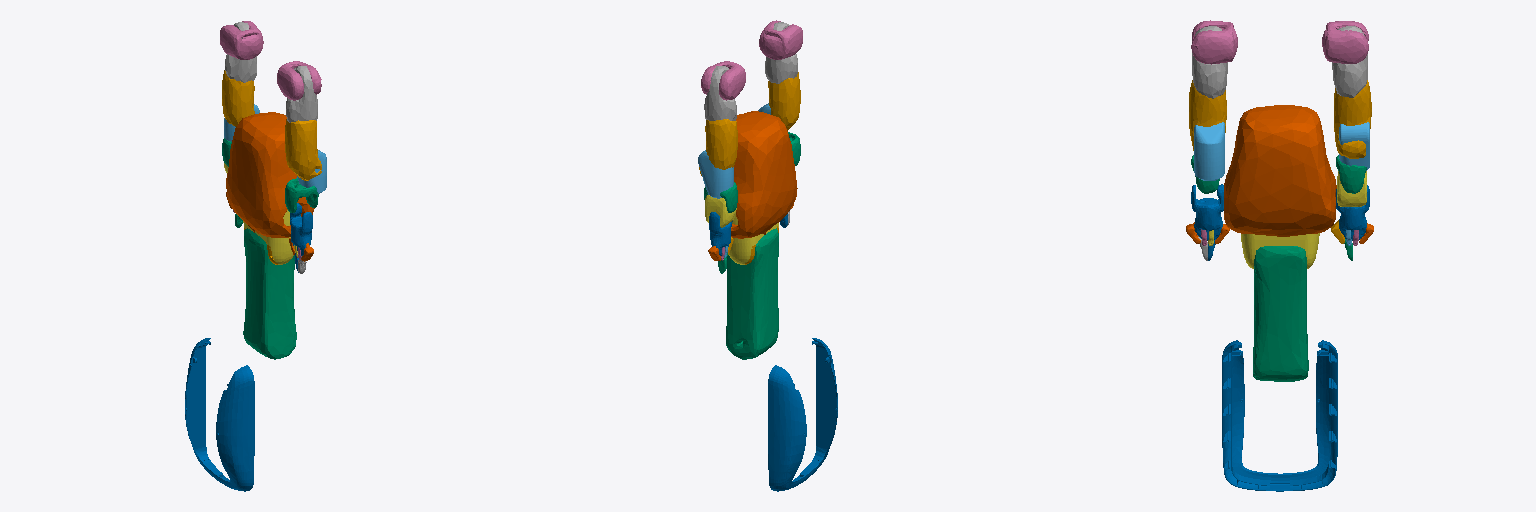
--- What the picture shows (computed from the rendered views, not written in the file) ---
Views: 3 orthographic renders of the robot side by side, from view 1: azimuth 30°, elevation 25°; view 2: azimuth 150°, elevation 25°; view 3: azimuth 270°, elevation 25°.
Robot: autolife — 37 links, 36 joints (18 revolute, 18 fixed); root link Link_Zero_Point; default pose: every joint at zero.
Links seen in each view (by area): view 1: Link_Waist_Yaw_to_Shoulder_Inner, Link_Ground_Vehicle_Visual_Cover, Link_Ankle_to_Knee, Link_Right_UpperArm_to_Elbow, Link_Left_UpperArm_to_Elbow, Link_Left_Shoulder_Inner_to_Shoulder_Outer, Link_Right_Shoulder_Outer_to_UpperArm, Link_Right_Shoulder_Inner_to_Shoulder_Outer, Link_Left_Shoulder_Outer_to_UpperArm, Link_Right_Wrist_Lower_to_Gripper, Link_Right_Forearm_to_Wrist_Upper, Link_Knee_to_Waist_Pitch; view 2: Link_Waist_Yaw_to_Shoulder_Inner, Link_Ground_Vehicle_Visual_Cover, Link_Ankle_to_Knee, Link_Left_UpperArm_to_Elbow, Link_Right_UpperArm_to_Elbow, Link_Right_Shoulder_Inner_to_Shoulder_Outer, Link_Left_Shoulder_Inner_to_Shoulder_Outer, Link_Left_Shoulder_Outer_to_UpperArm, Link_Left_Elbow_to_Forearm, Link_Right_Shoulder_Outer_to_UpperArm, Link_Knee_to_Waist_Pitch, Link_Left_Wrist_Lower_to_Gripper (+1 smaller); view 3: Link_Waist_Yaw_to_Shoulder_Inner, Link_Ground_Vehicle_Visual_Cover, Link_Ankle_to_Knee, Link_Left_UpperArm_to_Elbow, Link_Left_Shoulder_Inner_to_Shoulder_Outer, Link_Right_Elbow_to_Forearm, Link_Right_Shoulder_Inner_to_Shoulder_Outer, Link_Knee_to_Waist_Pitch, Link_Right_UpperArm_to_Elbow, Link_Right_Shoulder_Outer_to_UpperArm, Link_Right_Wrist_Lower_to_Gripper, Link_Left_Shoulder_Outer_to_UpperArm (+4 smaller).
Link boxes in pixels (left/top/right/bottom): Link_Waist_Yaw_to_Shoulder_Inner: left=226, top=112, right=314, bottom=237; Link_Ground_Vehicle_Visual_Cover: left=185, top=338, right=254, bottom=491; Link_Ankle_to_Knee: left=243, top=228, right=296, bottom=359; Link_Right_UpperArm_to_Elbow: left=285, top=119, right=321, bottom=180; Link_Left_UpperArm_to_Elbow: left=222, top=70, right=254, bottom=126; Link_Left_Shoulder_Inner_to_Shoulder_Outer: left=220, top=21, right=263, bottom=59; Link_Right_Shoulder_Outer_to_UpperArm: left=286, top=66, right=317, bottom=122; Link_Right_Shoulder_Inner_to_Shoulder_Outer: left=277, top=61, right=321, bottom=100; Link_Left_Shoulder_Outer_to_UpperArm: left=225, top=22, right=256, bottom=82; Link_Right_Wrist_Lower_to_Gripper: left=290, top=203, right=312, bottom=255; Link_Right_Forearm_to_Wrist_Upper: left=285, top=178, right=318, bottom=212; Link_Knee_to_Waist_Pitch: left=243, top=210, right=293, bottom=264; Link_Waist_Yaw_to_Shoulder_Inner: left=731, top=111, right=797, bottom=238; Link_Ground_Vehicle_Visual_Cover: left=768, top=338, right=837, bottom=491; Link_Ankle_to_Knee: left=726, top=228, right=778, bottom=359; Link_Left_UpperArm_to_Elbow: left=699, top=119, right=737, bottom=175; Link_Right_UpperArm_to_Elbow: left=768, top=72, right=800, bottom=130; Link_Right_Shoulder_Inner_to_Shoulder_Outer: left=759, top=20, right=802, bottom=59; Link_Left_Shoulder_Inner_to_Shoulder_Outer: left=701, top=61, right=745, bottom=100; Link_Left_Shoulder_Outer_to_UpperArm: left=704, top=66, right=736, bottom=120; Link_Left_Elbow_to_Forearm: left=698, top=150, right=733, bottom=198; Link_Right_Shoulder_Outer_to_UpperArm: left=765, top=22, right=797, bottom=83; Link_Knee_to_Waist_Pitch: left=729, top=215, right=778, bottom=264; Link_Left_Wrist_Lower_to_Gripper: left=709, top=212, right=732, bottom=255; Link_Waist_Yaw_to_Shoulder_Inner: left=1224, top=105, right=1336, bottom=236; Link_Ground_Vehicle_Visual_Cover: left=1222, top=340, right=1337, bottom=491; Link_Ankle_to_Knee: left=1253, top=246, right=1308, bottom=381; Link_Left_UpperArm_to_Elbow: left=1334, top=80, right=1371, bottom=158; Link_Left_Shoulder_Inner_to_Shoulder_Outer: left=1322, top=21, right=1368, bottom=63; Link_Right_Elbow_to_Forearm: left=1194, top=122, right=1224, bottom=180; Link_Right_Shoulder_Inner_to_Shoulder_Outer: left=1191, top=20, right=1237, bottom=64; Link_Knee_to_Waist_Pitch: left=1241, top=233, right=1319, bottom=268; Link_Right_UpperArm_to_Elbow: left=1189, top=80, right=1226, bottom=150; Link_Right_Shoulder_Outer_to_UpperArm: left=1192, top=26, right=1227, bottom=98; Link_Right_Wrist_Lower_to_Gripper: left=1191, top=184, right=1223, bottom=240; Link_Left_Shoulder_Outer_to_UpperArm: left=1332, top=26, right=1367, bottom=97.
Size in the robot's own frame: 0.3961 by 0.5643 by 1.61 metres.
Meshes: 36 distinct files referenced, 30 mesh visuals loaded (30 binary STL); not drawn: 6 (reference not matched to a file when rendering).

The robot description file, URDF, robot "autolife":
<?xml version="1.0" encoding="utf-8"?>
<robot name="autolife" path="../../assets/autolife/autolife_simple.urdf">
	<link name="Link_Zero_Point"></link>
	<link name="Link_Ground_Vehicle_Z">
		<visual>
			<origin xyz="0 0 0" rpy="0 0 0"></origin>
			<geometry>
				<mesh filename="package://meshes/Link_Ground_Vehicle_Z.STL"></mesh>
			</geometry>
		</visual>
		<collision>
			<geometry>
				<sphere radius="0.172499"></sphere>
			</geometry>
			<origin xyz="-0.11830313381965643 0.10558909257071028 0.10777015354302973" rpy="0 0 0"></origin>
		</collision>
		<collision>
			<geometry>
				<sphere radius="0.199984"></sphere>
			</geometry>
			<origin xyz="-0.03857213381965643 0.1731800925707103 -0.05936584645697028" rpy="0 0 0"></origin>
		</collision>
		<collision>
			<geometry>
				<sphere radius="0.126008"></sphere>
			</geometry>
			<origin xyz="0.13864086618034357 0.06054909257071028 -0.17501284645697027" rpy="0 0 0"></origin>
		</collision>
		<collision>
			<geometry>
				<sphere radius="0.210081"></sphere>
			</geometry>
			<origin xyz="-0.04717313381965643 0.1357350925707103 -0.13450684645697028" rpy="0 0 0"></origin>
		</collision>
		<collision>
			<geometry>
				<sphere radius="0.205008"></sphere>
			</geometry>
			<origin xyz="0.04082286618034357 0.1384140925707103 0.1591701535430297" rpy="0 0 0"></origin>
		</collision>
		<collision>
			<geometry>
				<sphere radius="0.193729"></sphere>
			</geometry>
			<origin xyz="-0.03023013381965643 0.1535900925707103 0.1327741535430297" rpy="0 0 0"></origin>
		</collision>
		<collision>
			<geometry>
				<sphere radius="0.13171"></sphere>
			</geometry>
			<origin xyz="0.05701586618034357 0.2358720925707103 0.01205115354302972" rpy="0 0 0"></origin>
		</collision>
		<collision>
			<geometry>
				<sphere radius="0.130365"></sphere>
			</geometry>
			<origin xyz="0.14866586618034358 0.09779109257071028 0.02153115354302972" rpy="0 0 0"></origin>
		</collision>
	</link>
	<link name="Link_Ankle_to_Knee">
		<visual>
			<origin xyz="0 0 0" rpy="0 0 0"></origin>
			<geometry>
				<mesh filename="package://meshes/Link_Ankle_to_Knee.STL"></mesh>
			</geometry>
		</visual>
		<collision>
			<geometry>
				<sphere radius="0.111384"></sphere>
			</geometry>
			<origin xyz="0.34331494541381 0.0011075783606396229 0.01601309006918067" rpy="0 0 0"></origin>
		</collision>
		<collision>
			<geometry>
				<sphere radius="0.109059"></sphere>
			</geometry>
			<origin xyz="0.34963094541381 0.001532578360639623 -0.015810909930819333" rpy="0 0 0"></origin>
		</collision>
		<collision>
			<geometry>
				<sphere radius="0.104948"></sphere>
			</geometry>
			<origin xyz="0.0025539454138100437 -0.0025154216393603775 -0.01929890993081933" rpy="0 0 0"></origin>
		</collision>
		<collision>
			<geometry>
				<sphere radius="0.109815"></sphere>
			</geometry>
			<origin xyz="0.005750945413810049 0.0008245783606396228 0.012832090069180667" rpy="0 0 0"></origin>
		</collision>
		<collision>
			<geometry>
				<sphere radius="0.11825"></sphere>
			</geometry>
			<origin xyz="0.07749294541381004 -0.00017242163936037722 -0.0016849099308193323" rpy="0 0 0"></origin>
		</collision>
		<collision>
			<geometry>
				<sphere radius="0.119863"></sphere>
			</geometry>
			<origin xyz="0.14284294541381004 -0.0005984216393603772 -0.0009539099308193324" rpy="0 0 0"></origin>
		</collision>
		<collision>
			<geometry>
				<sphere radius="0.118523"></sphere>
			</geometry>
			<origin xyz="0.23517794541381004 -0.0008004216393603772 -0.014061909930819332" rpy="0 0 0"></origin>
		</collision>
		<collision>
			<geometry>
				<sphere radius="0.119619"></sphere>
			</geometry>
			<origin xyz="0.23774394541381005 -0.0006314216393603772 0.009868090069180668" rpy="0 0 0"></origin>
		</collision>
	</link>
	<link name="Link_Knee_to_Waist_Pitch">
		<visual>
			<origin xyz="0 0 0" rpy="0 0 0"></origin>
			<geometry>
				<mesh filename="package://meshes/Link_Knee_to_Waist_Pitch.STL"></mesh>
			</geometry>
		</visual>
		<collision>
			<geometry>
				<sphere radius="0.079998"></sphere>
			</geometry>
			<origin xyz="0.34950578403984334 -0.00013761735033175322 0.09621015811629044" rpy="0 0 0"></origin>
		</collision>
		<collision>
			<geometry>
				<sphere radius="0.098361"></sphere>
			</geometry>
			<origin xyz="0.32762478403984335 0.0014323826496682468 -0.07324784188370957" rpy="0 0 0"></origin>
		</collision>
		<collision>
			<geometry>
				<sphere radius="0.088092"></sphere>
			</geometry>
			<origin xyz="0.02713778403984335 -0.0056636173503317525 -0.06581784188370957" rpy="0 0 0"></origin>
		</collision>
		<collision>
			<geometry>
				<sphere radius="0.086117"></sphere>
			</geometry>
			<origin xyz="0.10170878403984336 -0.0007036173503317533 0.09655615811629044" rpy="0 0 0"></origin>
		</collision>
		<collision>
			<geometry>
				<sphere radius="0.081067"></sphere>
			</geometry>
			<origin xyz="0.22857178403984335 -0.005832617350331753 -0.10695684188370956" rpy="0 0 0"></origin>
		</collision>
		<collision>
			<geometry>
				<sphere radius="0.076283"></sphere>
			</geometry>
			<origin xyz="0.015006784039843346 -0.007514617350331753 0.09231515811629043" rpy="0 0 0"></origin>
		</collision>
		<collision>
			<geometry>
				<sphere radius="0.099164"></sphere>
			</geometry>
			<origin xyz="0.22593678403984335 0.014321382649668247 0.09869015811629044" rpy="0 0 0"></origin>
		</collision>
		<collision>
			<geometry>
				<sphere radius="0.093204"></sphere>
			</geometry>
			<origin xyz="0.13177378403984336 0.0035563826496682466 -0.06742884188370957" rpy="0 0 0"></origin>
		</collision>
	</link>
	<link name="Link_Waist_Pitch_to_Waist_Yaw">
		<visual>
			<origin xyz="0 0 0" rpy="0 0 0"></origin>
			<geometry>
				<mesh filename="package://meshes/Link_Waist_Pitch_to_Waist_Yaw.STL"></mesh>
			</geometry>
		</visual>
		<collision>
			<geometry>
				<sphere radius="0.068732"></sphere>
			</geometry>
			<origin xyz="0.02630681047717116 -0.015406835109746067 0.02373530486170877" rpy="0 0 0"></origin>
		</collision>
		<collision>
			<geometry>
				<sphere radius="0.064651"></sphere>
			</geometry>
			<origin xyz="0.03087481047717116 -0.026591835109746068 -0.0004066951382912314" rpy="0 0 0"></origin>
		</collision>
		<collision>
			<geometry>
				<sphere radius="0.066208"></sphere>
			</geometry>
			<origin xyz="0.02710781047717116 0.022997164890253934 0.01900630486170877" rpy="0 0 0"></origin>
		</collision>
		<collision>
			<geometry>
				<sphere radius="0.074482"></sphere>
			</geometry>
			<origin xyz="0.01820381047717116 0.021394164890253933 -0.019338695138291232" rpy="0 0 0"></origin>
		</collision>
		<collision>
			<geometry>
				<sphere radius="0.079875"></sphere>
			</geometry>
			<origin xyz="0.01188181047717116 -0.01832583510974607 -0.015402695138291232" rpy="0 0 0"></origin>
		</collision>
		<collision>
			<geometry>
				<sphere radius="0.067066"></sphere>
			</geometry>
			<origin xyz="-0.01863118952282884 -0.009024835109746068 0.01713430486170877" rpy="0 0 0"></origin>
		</collision>
		<collision>
			<geometry>
				<sphere radius="0.068044"></sphere>
			</geometry>
			<origin xyz="-0.02063618952282884 0.0027031648902539323 -0.01791869513829123" rpy="0 0 0"></origin>
		</collision>
		<collision>
			<geometry>
				<sphere radius="0.066473"></sphere>
			</geometry>
			<origin xyz="-0.011283189522828838 0.01827716489025393 0.01811830486170877" rpy="0 0 0"></origin>
		</collision>
	</link>
	<link name="Link_Waist_Yaw_to_Shoulder_Inner">
		<visual>
			<origin xyz="0 0 0" rpy="0 0 0"></origin>
			<geometry>
				<mesh filename="package://meshes/Link_Waist_Yaw_to_Shoulder_Inner.STL"></mesh>
			</geometry>
		</visual>
		<collision>
			<geometry>
				<sphere radius="0.103716"></sphere>
			</geometry>
			<origin xyz="-0.013231256024765447 0.0035902104717378527 0.5288895566555278" rpy="0 0 0"></origin>
		</collision>
		<collision>
			<geometry>
				<sphere radius="0.131559"></sphere>
			</geometry>
			<origin xyz="0.020199743975234552 0.0017892104717378526 0.08856055665552787" rpy="0 0 0"></origin>
		</collision>
		<collision>
			<geometry>
				<sphere radius="0.135913"></sphere>
			</geometry>
			<origin xyz="-0.0028842560247654466 -0.05130778952826215 0.22430055665552784" rpy="0 0 0"></origin>
		</collision>
		<collision>
			<geometry>
				<sphere radius="0.121979"></sphere>
			</geometry>
			<origin xyz="-0.024767256024765448 -0.015210789528262148 0.48312255665552784" rpy="0 0 0"></origin>
		</collision>
		<collision>
			<geometry>
				<sphere radius="0.137586"></sphere>
			</geometry>
			<origin xyz="-0.003981256024765447 0.05015621047173785 0.22394655665552787" rpy="0 0 0"></origin>
		</collision>
		<collision>
			<geometry>
				<sphere radius="0.079736"></sphere>
			</geometry>
			<origin xyz="0.05675174397523455 0.08606321047173786 0.11837355665552785" rpy="0 0 0"></origin>
		</collision>
		<collision>
			<geometry>
				<sphere radius="0.103975"></sphere>
			</geometry>
			<origin xyz="0.0030917439752345534 0.008949210471737853 0.3867775566555278" rpy="0 0 0"></origin>
		</collision>
		<collision>
			<geometry>
				<sphere radius="0.130265"></sphere>
			</geometry>
			<origin xyz="0.012695743975234553 -0.04613778952826215 0.14933555665552786" rpy="0 0 0"></origin>
		</collision>
	</link>
	<link name="Link_Left_Shoulder_Inner_to_Shoulder_Outer">
		<visual>
			<origin xyz="0 0 0" rpy="0 0 0"></origin>
			<geometry>
				<mesh filename="package://meshes/Link_Left_Shoulder_Inner_to_Shoulder_Outer.STL"></mesh>
			</geometry>
		</visual>
		<collision>
			<geometry>
				<sphere radius="0.063712"></sphere>
			</geometry>
			<origin xyz="-0.02893625052882526 0.002282358128370689 0.07375328210621124" rpy="0 0 0"></origin>
		</collision>
		<collision>
			<geometry>
				<sphere radius="0.063345"></sphere>
			</geometry>
			<origin xyz="-0.029251250528825264 -0.001536641871629311 0.07527928210621124" rpy="0 0 0"></origin>
		</collision>
		<collision>
			<geometry>
				<sphere radius="0.06482"></sphere>
			</geometry>
			<origin xyz="-0.01649925052882526 -0.01401164187162931 0.027136282106211232" rpy="0 0 0"></origin>
		</collision>
		<collision>
			<geometry>
				<sphere radius="0.059314"></sphere>
			</geometry>
			<origin xyz="-0.015520250528825262 0.01980335812837069 0.02035528210621123" rpy="0 0 0"></origin>
		</collision>
		<collision>
			<geometry>
				<sphere radius="0.063422"></sphere>
			</geometry>
			<origin xyz="0.009038749471174737 -0.01284264187162931 0.026451282106211234" rpy="0 0 0"></origin>
		</collision>
		<collision>
			<geometry>
				<sphere radius="0.05919"></sphere>
			</geometry>
			<origin xyz="0.022645749471174738 0.01576535812837069 0.033190282106211236" rpy="0 0 0"></origin>
		</collision>
		<collision>
			<geometry>
				<sphere radius="0.062625"></sphere>
			</geometry>
			<origin xyz="0.022954749471174738 0.002288358128370689 0.07742328210621123" rpy="0 0 0"></origin>
		</collision>
		<collision>
			<geometry>
				<sphere radius="0.07113"></sphere>
			</geometry>
			<origin xyz="0.010379749471174737 -0.001269641871629311 0.06957428210621124" rpy="0 0 0"></origin>
		</collision>
	</link>
	<link name="Link_Left_Shoulder_Outer_to_UpperArm">
		<visual>
			<origin xyz="0 0 0" rpy="0 0 0"></origin>
			<geometry>
				<mesh filename="package://meshes/Link_Left_Shoulder_Outer_to_UpperArm.STL"></mesh>
			</geometry>
		</visual>
		<collision>
			<geometry>
				<sphere radius="0.058896"></sphere>
			</geometry>
			<origin xyz="0.11165603642522809 0.011357453808358571 -0.037646048766999056" rpy="0 0 0"></origin>
		</collision>
		<collision>
			<geometry>
				<sphere radius="0.049681"></sphere>
			</geometry>
			<origin xyz="0.010025036425228097 0.01881945380835857 -0.029554048766999057" rpy="0 0 0"></origin>
		</collision>
		<collision>
			<geometry>
				<sphere radius="0.055464"></sphere>
			</geometry>
			<origin xyz="-0.01876796357477191 0.004367453808358571 -0.029654048766999057" rpy="0 0 0"></origin>
		</collision>
		<collision>
			<geometry>
				<sphere radius="0.044751"></sphere>
			</geometry>
			<origin xyz="0.1029340364252281 0.011757453808358572 -0.05522904876699906" rpy="0 0 0"></origin>
		</collision>
		<collision>
			<geometry>
				<sphere radius="0.053632"></sphere>
			</geometry>
			<origin xyz="0.06012103642522809 0.017401453808358572 -0.032371048766999054" rpy="0 0 0"></origin>
		</collision>
		<collision>
			<geometry>
				<sphere radius="0.050685"></sphere>
			</geometry>
			<origin xyz="-0.0068719635747719054 -0.01865054619164143 -0.029298048766999058" rpy="0 0 0"></origin>
		</collision>
		<collision>
			<geometry>
				<sphere radius="0.030168"></sphere>
			</geometry>
			<origin xyz="0.13373203642522807 0.018147453808358572 -0.0013950487669990574" rpy="0 0 0"></origin>
		</collision>
		<collision>
			<geometry>
				<sphere radius="0.050418"></sphere>
			</geometry>
			<origin xyz="0.03190903642522809 -0.010091546191641428 -0.02853204876699906" rpy="0 0 0"></origin>
		</collision>
	</link>
	<link name="Link_Left_UpperArm_to_Elbow">
		<visual>
			<origin xyz="0 0 0" rpy="0 0 0"></origin>
			<geometry>
				<mesh filename="package://meshes/Link_Left_UpperArm_to_Elbow.STL"></mesh>
			</geometry>
		</visual>
		<collision>
			<geometry>
				<sphere radius="0.057462"></sphere>
			</geometry>
			<origin xyz="-0.0005613954370025636 0.0009237104254278181 0.03743296442747147" rpy="0 0 0"></origin>
		</collision>
		<collision>
			<geometry>
				<sphere radius="0.053253"></sphere>
			</geometry>
			<origin xyz="-0.0016393954370025627 -0.0009042895745721819 -0.010349035572528531" rpy="0 0 0"></origin>
		</collision>
		<collision>
			<geometry>
				<sphere radius="0.057049"></sphere>
			</geometry>
			<origin xyz="-0.0004813954370025634 2.371042542781811e-05 0.09188196442747147" rpy="0 0 0"></origin>
		</collision>
		<collision>
			<geometry>
				<sphere radius="0.052786"></sphere>
			</geometry>
			<origin xyz="0.027108604562997435 0.001907710425427818 0.18197196442747146" rpy="0 0 0"></origin>
		</collision>
		<collision>
			<geometry>
				<sphere radius="0.058968"></sphere>
			</geometry>
			<origin xyz="0.006342604562997437 0.00048571042542781807 0.12924596442747147" rpy="0 0 0"></origin>
		</collision>
		<collision>
			<geometry>
				<sphere radius="0.055944"></sphere>
			</geometry>
			<origin xyz="0.014257604562997437 0.0005887104254278181 0.16293896442747147" rpy="0 0 0"></origin>
		</collision>
		<collision>
			<geometry>
				<sphere radius="0.042576"></sphere>
			</geometry>
			<origin xyz="-0.008729395437002564 -0.007893289574572183 0.14964196442747146" rpy="0 0 0"></origin>
		</collision>
		<collision>
			<geometry>
				<sphere radius="0.049773"></sphere>
			</geometry>
			<origin xyz="-0.004265395437002564 0.002170710425427818 0.14716196442747148" rpy="0 0 0"></origin>
		</collision>
	</link>
	<link name="Link_Left_Elbow_to_Forearm">
		<visual>
			<origin xyz="0 0 0" rpy="0 0 0"></origin>
			<geometry>
				<mesh filename="package://meshes/Link_Left_Elbow_to_Forearm.STL"></mesh>
			</geometry>
		</visual>
		<collision>
			<geometry>
				<sphere radius="0.060825"></sphere>
			</geometry>
			<origin xyz="0.06269189463412769 -0.02506562257909892 -0.022751499613747662" rpy="0 0 0"></origin>
		</collision>
		<collision>
			<geometry>
				<sphere radius="0.060281"></sphere>
			</geometry>
			<origin xyz="0.019195894634127693 -0.018794622579098922 -0.03972049961374766" rpy="0 0 0"></origin>
		</collision>
		<collision>
			<geometry>
				<sphere radius="0.041523"></sphere>
			</geometry>
			<origin xyz="-0.008176105365872308 -0.006937622579098922 -0.059391499613747664" rpy="0 0 0"></origin>
		</collision>
		<collision>
			<geometry>
				<sphere radius="0.042643"></sphere>
			</geometry>
			<origin xyz="-0.00845610536587231 -0.01584762257909892 0.0001845003862523363" rpy="0 0 0"></origin>
		</collision>
		<collision>
			<geometry>
				<sphere radius="0.043151"></sphere>
			</geometry>
			<origin xyz="-0.008850105365872309 0.01272037742090108 0.0003165003862523365" rpy="0 0 0"></origin>
		</collision>
		<collision>
			<geometry>
				<sphere radius="0.05925"></sphere>
			</geometry>
			<origin xyz="0.017627894634127693 -0.010622622579098922 -0.01737049961374766" rpy="0 0 0"></origin>
		</collision>
		<collision>
			<geometry>
				<sphere radius="0.041915"></sphere>
			</geometry>
			<origin xyz="-0.009765105365872308 0.008983377420901079 -0.05816449961374766" rpy="0 0 0"></origin>
		</collision>
		<collision>
			<geometry>
				<sphere radius="0.028661"></sphere>
			</geometry>
			<origin xyz="0.01280689463412769 0.021281377420901082 -0.06715149961374767" rpy="0 0 0"></origin>
		</collision>
	</link>
	<link name="Link_Left_Forearm_to_Wrist_Upper">
		<visual>
			<origin xyz="0 0 0" rpy="0 0 0"></origin>
			<geometry>
				<mesh filename="package://meshes/Link_Left_Forearm_to_Wrist_Upper.STL"></mesh>
			</geometry>
		</visual>
		<collision>
			<geometry>
				<sphere radius="0.033399"></sphere>
			</geometry>
			<origin xyz="0.04014096650598872 -0.0002984368208591419 0.047553330991198586" rpy="0 0 0"></origin>
		</collision>
		<collision>
			<geometry>
				<sphere radius="0.036293"></sphere>
			</geometry>
			<origin xyz="0.025564966505988728 -0.021511436820859143 0.0031993309911985818" rpy="0 0 0"></origin>
		</collision>
		<collision>
			<geometry>
				<sphere radius="0.037921"></sphere>
			</geometry>
			<origin xyz="0.025536966505988728 0.024236563179140858 0.003327330991198585" rpy="0 0 0"></origin>
		</collision>
		<collision>
			<geometry>
				<sphere radius="0.032255"></sphere>
			</geometry>
			<origin xyz="-0.025693033494011273 0.024413563179140858 0.0029383309911985844" rpy="0 0 0"></origin>
		</collision>
		<collision>
			<geometry>
				<sphere radius="0.036137"></sphere>
			</geometry>
			<origin xyz="-0.026698033494011272 -0.023707436820859143 0.0035443309911985833" rpy="0 0 0"></origin>
		</collision>
		<collision>
			<geometry>
				<sphere radius="0.027497"></sphere>
			</geometry>
			<origin xyz="-0.03835403349401127 0.004857563179140858 0.0062133309911985846" rpy="0 0 0"></origin>
		</collision>
		<collision>
			<geometry>
				<sphere radius="0.030441"></sphere>
			</geometry>
			<origin xyz="-0.04357103349401127 -0.006879436820859142 0.05237733099119858" rpy="0 0 0"></origin>
		</collision>
		<collision>
			<geometry>
				<sphere radius="0.026535"></sphere>
			</geometry>
			<origin xyz="-0.04037203349401128 0.019250563179140857 0.05310033099119858" rpy="0 0 0"></origin>
		</collision>
	</link>
	<link name="Link_Left_Wrist_Upper_to_Wrist_Lower">
		<visual>
			<origin xyz="0 0 0" rpy="0 0 0"></origin>
			<geometry>
				<mesh filename="package://meshes/Link_Left_Wrist_Upper_to_Wrist_Lower.STL"></mesh>
			</geometry>
		</visual>
		<collision>
			<geometry>
				<sphere radius="0.042426"></sphere>
			</geometry>
			<origin xyz="0.0002933121810317803 -0.010497355079428507 -0.021179153279923493" rpy="0 0 0"></origin>
		</collision>
		<collision>
			<geometry>
				<sphere radius="0.043397"></sphere>
			</geometry>
			<origin xyz="-0.0032526878189682203 0.006855644920571493 -0.02440015327992349" rpy="0 0 0"></origin>
		</collision>
		<collision>
			<geometry>
				<sphere radius="0.045781"></sphere>
			</geometry>
			<origin xyz="-0.008684687818968216 -0.0046833550794285065 -0.04172715327992349" rpy="0 0 0"></origin>
		</collision>
		<collision>
			<geometry>
				<sphere radius="0.046469"></sphere>
			</geometry>
			<origin xyz="0.018180312181031784 0.008935644920571494 -0.041363153279923494" rpy="0 0 0"></origin>
		</collision>
		<collision>
			<geometry>
				<sphere radius="0.042266"></sphere>
			</geometry>
			<origin xyz="0.030587312181031782 -0.008828355079428507 -0.04136915327992349" rpy="0 0 0"></origin>
		</collision>
		<collision>
			<geometry>
				<sphere radius="0.053583"></sphere>
			</geometry>
			<origin xyz="0.037018312181031784 0.0001476449205714937 -0.03139215327992349" rpy="0 0 0"></origin>
		</collision>
		<collision>
			<geometry>
				<sphere radius="0.045113"></sphere>
			</geometry>
			<origin xyz="0.059186312181031785 0.005891644920571494 -0.03344415327992349" rpy="0 0 0"></origin>
		</collision>
		<collision>
			<geometry>
				<sphere radius="0.043304"></sphere>
			</geometry>
			<origin xyz="0.06421931218103177 -0.008715355079428506 -0.032129153279923495" rpy="0 0 0"></origin>
		</collision>
	</link>
	<link name="Link_Left_Wrist_Lower_to_Gripper">
		<visual>
			<origin xyz="0 0 0" rpy="0 0 0"></origin>
			<geometry>
				<mesh filename="package://meshes/Link_Left_Wrist_Lower_to_Gripper.STL"></mesh>
			</geometry>
		</visual>
		<collision>
			<geometry>
				<sphere radius="0.047354"></sphere>
			</geometry>
			<origin xyz="0.06831363167338639 -0.00024017062292559994 -0.03213560437081975" rpy="0 0 0"></origin>
		</collision>
		<collision>
			<geometry>
				<sphere radius="0.043503"></sphere>
			</geometry>
			<origin xyz="0.10100563167338639 -4.0170622925599954e-05 -0.03138760437081975" rpy="0 0 0"></origin>
		</collision>
		<collision>
			<geometry>
				<sphere radius="0.024141"></sphere>
			</geometry>
			<origin xyz="-0.0030933683266136103 -0.0060171706229256 -0.07266660437081975" rpy="0 0 0"></origin>
		</collision>
		<collision>
			<geometry>
				<sphere radius="0.024239"></sphere>
			</geometry>
			<origin xyz="-0.0006533683266136125 -0.0005561706229255999 0.005903395629180255" rpy="0 0 0"></origin>
		</collision>
		<collision>
			<geometry>
				<sphere radius="0.037238"></sphere>
			</geometry>
			<origin xyz="0.04418863167338639 -0.0046011706229256 -0.05665060437081974" rpy="0 0 0"></origin>
		</collision>
		<collision>
			<geometry>
				<sphere radius="0.027967"></sphere>
			</geometry>
			<origin xyz="0.020550631673386388 0.0007918293770744001 0.003917395629180254" rpy="0 0 0"></origin>
		</collision>
		<collision>
			<geometry>
				<sphere radius="0.022526"></sphere>
			</geometry>
			<origin xyz="0.0004846316733863876 0.0143418293770744 -0.07091260437081975" rpy="0 0 0"></origin>
		</collision>
		<collision>
			<geometry>
				<sphere radius="0.037396"></sphere>
			</geometry>
			<origin xyz="0.050131631673386384 -0.0019681706229256 -0.016203604370819746" rpy="0 0 0"></origin>
		</collision>
	</link>
	<link name="Link_Left_Gripper">
		<visual>
			<origin xyz="0 0 0" rpy="0 0 0"></origin>
			<geometry>
				<mesh filename="package://meshes/Link_Left_Gripper.STL"></mesh>
			</geometry>
		</visual>
		<collision>
			<geometry>
				<sphere radius="0.02047"></sphere>
			</geometry>
			<origin xyz="0.019922308455821134 -0.021437792049140047 -0.007527165474800392" rpy="0 0 0"></origin>
		</collision>
		<collision>
			<geometry>
				<sphere radius="0.016627"></sphere>
			</geometry>
			<origin xyz="0.010277308455821133 -0.042442792049140046 -0.003159165474800392" rpy="0 0 0"></origin>
		</collision>
		<collision>
			<geometry>
				<sphere radius="0.014307"></sphere>
			</geometry>
			<origin xyz="-3.769154417886632e-05 -0.05875879204914004 -0.0017401654748003918" rpy="0 0 0"></origin>
		</collision>
		<collision>
			<geometry>
				<sphere radius="0.015077"></sphere>
			</geometry>
			<origin xyz="0.0018503084558211327 -0.05596679204914005 -0.016575165474800393" rpy="0 0 0"></origin>
		</collision>
		<collision>
			<geometry>
				<sphere radius="0.016648"></sphere>
			</geometry>
			<origin xyz="0.010030308455821134 -0.04303579204914004 -0.01974716547480039" rpy="0 0 0"></origin>
		</collision>
		<collision>
			<geometry>
				<sphere radius="0.021073"></sphere>
			</geometry>
			<origin xyz="0.019729308455821132 -0.021981792049140046 -0.014383165474800392" rpy="0 0 0"></origin>
		</collision>
		<collision>
			<geometry>
				<sphere radius="0.013899"></sphere>
			</geometry>
			<origin xyz="0.0019413084558211335 -0.0014067920491400467 -0.011170165474800391" rpy="0 0 0"></origin>
		</collision>
		<collision>
			<geometry>
				<sphere radius="0.012335"></sphere>
			</geometry>
			<origin xyz="-0.0038096915441788656 0.011703207950859953 -0.011153165474800391" rpy="0 0 0"></origin>
		</collision>
	</link>
	<link name="Link_Right_Shoulder_Inner_to_Shoulder_Outer">
		<visual>
			<origin xyz="0 0 0" rpy="0 0 0"></origin>
			<geometry>
				<mesh filename="package://meshes/Link_Right_Shoulder_Inner_to_Shoulder_Outer.STL"></mesh>
			</geometry>
		</visual>
		<collision>
			<geometry>
				<sphere radius="0.074673"></sphere>
			</geometry>
			<origin xyz="-0.006000398464291464 0.0014397661067737434 -0.000919755514959382" rpy="0 0 0"></origin>
		</collision>
		<collision>
			<geometry>
				<sphere radius="0.074241"></sphere>
			</geometry>
			<origin xyz="-0.018438398464291465 0.00014276610677374345 0.06255124448504062" rpy="0 0 0"></origin>
		</collision>
		<collision>
			<geometry>
				<sphere radius="0.072834"></sphere>
			</geometry>
			<origin xyz="0.011664601535708535 0.0003707661067737434 0.06365724448504062" rpy="0 0 0"></origin>
		</collision>
	</link>
	<link name="Link_Right_Shoulder_Outer_to_UpperArm">
		<visual>
			<origin xyz="0 0 0" rpy="0 0 0"></origin>
			<geometry>
				<mesh filename="package://meshes/Link_Right_Shoulder_Outer_to_UpperArm.STL"></mesh>
			</geometry>
		</visual>
		<collision>
			<geometry>
				<sphere radius="0.051464"></sphere>
			</geometry>
			<origin xyz="0.1151855527497045 -0.015431548688979606 -0.02462256262567125" rpy="0 0 0"></origin>
		</collision>
		<collision>
			<geometry>
				<sphere radius="0.055171"></sphere>
			</geometry>
			<origin xyz="0.1135785527497045 -0.006603548688979605 -0.03411456262567125" rpy="0 0 0"></origin>
		</collision>
		<collision>
			<geometry>
				<sphere radius="0.050119"></sphere>
			</geometry>
			<origin xyz="0.10739055274970451 -0.011615548688979606 -0.05329156262567125" rpy="0 0 0"></origin>
		</collision>
		<collision>
			<geometry>
				<sphere radius="0.059879"></sphere>
			</geometry>
			<origin xyz="0.05760755274970451 -0.013820548688979604 -0.03343156262567125" rpy="0 0 0"></origin>
		</collision>
		<collision>
			<geometry>
				<sphere radius="0.054114"></sphere>
			</geometry>
			<origin xyz="-0.0010554472502954937 -0.018633548688979606 -0.02991056262567125" rpy="0 0 0"></origin>
		</collision>
		<collision>
			<geometry>
				<sphere radius="0.054027"></sphere>
			</geometry>
			<origin xyz="0.0029085527497045086 0.018512451311020396 -0.02947156262567125" rpy="0 0 0"></origin>
		</collision>
		<collision>
			<geometry>
				<sphere radius="0.055506"></sphere>
			</geometry>
			<origin xyz="-0.019219447250295493 -0.003480548688979605 -0.02966756262567125" rpy="0 0 0"></origin>
		</collision>
	</link>
	<link name="Link_Right_UpperArm_to_Elbow">
		<visual>
			<origin xyz="0 0 0" rpy="0 0 0"></origin>
			<geometry>
				<mesh filename="package://meshes/Link_Right_UpperArm_to_Elbow.STL"></mesh>
			</geometry>
		</visual>
		<collision>
			<geometry>
				<sphere radius="0.057462"></sphere>
			</geometry>
			<origin xyz="-0.0005613954370025636 0.0009237104254278181 0.03743296442747147" rpy="0 0 0"></origin>
		</collision>
		<collision>
			<geometry>
				<sphere radius="0.053253"></sphere>
			</geometry>
			<origin xyz="-0.0016393954370025627 -0.0009042895745721819 -0.010349035572528531" rpy="0 0 0"></origin>
		</collision>
		<collision>
			<geometry>
				<sphere radius="0.057049"></sphere>
			</geometry>
			<origin xyz="-0.0004813954370025634 2.371042542781811e-05 0.09188196442747147" rpy="0 0 0"></origin>
		</collision>
		<collision>
			<geometry>
				<sphere radius="0.052786"></sphere>
			</geometry>
			<origin xyz="0.027108604562997435 0.001907710425427818 0.18197196442747146" rpy="0 0 0"></origin>
		</collision>
		<collision>
			<geometry>
				<sphere radius="0.058968"></sphere>
			</geometry>
			<origin xyz="0.006342604562997437 0.00048571042542781807 0.12924596442747147" rpy="0 0 0"></origin>
		</collision>
		<collision>
			<geometry>
				<sphere radius="0.055944"></sphere>
			</geometry>
			<origin xyz="0.014257604562997437 0.0005887104254278181 0.16293896442747147" rpy="0 0 0"></origin>
		</collision>
		<collision>
			<geometry>
				<sphere radius="0.042576"></sphere>
			</geometry>
			<origin xyz="-0.008729395437002564 -0.007893289574572183 0.14964196442747146" rpy="0 0 0"></origin>
		</collision>
		<collision>
			<geometry>
				<sphere radius="0.049773"></sphere>
			</geometry>
			<origin xyz="-0.004265395437002564 0.002170710425427818 0.14716196442747148" rpy="0 0 0"></origin>
		</collision>
	</link>
	<link name="Link_Right_Elbow_to_Forearm">
		<visual>
			<origin xyz="0 0 0" rpy="0 0 0"></origin>
			<geometry>
				<mesh filename="package://meshes/Link_Right_Elbow_to_Forearm.STL"></mesh>
			</geometry>
		</visual>
		<collision>
			<geometry>
				<sphere radius="0.059328"></sphere>
			</geometry>
			<origin xyz="0.05985352515467381 -0.026695232630392075 -0.03888685468374273" rpy="0 0 0"></origin>
		</collision>
		<collision>
			<geometry>
				<sphere radius="0.041559"></sphere>
			</geometry>
			<origin xyz="-0.0016024748453261836 -0.019969232630392075 -0.06004585468374273" rpy="0 0 0"></origin>
		</collision>
		<collision>
			<geometry>
				<sphere radius="0.024273"></sphere>
			</geometry>
			<origin xyz="-0.011181474845326188 0.029366767369607923 -0.06763685468374273" rpy="0 0 0"></origin>
		</collision>
		<collision>
			<geometry>
				<sphere radius="0.062729"></sphere>
			</geometry>
			<origin xyz="0.02300952515467381 -0.012892232630392075 -0.02164185468374273" rpy="0 0 0"></origin>
		</collision>
		<collision>
			<geometry>
				<sphere radius="0.053179"></sphere>
			</geometry>
			<origin xyz="-0.00040747484532618894 -0.0007132326303920748 -0.02125985468374273" rpy="0 0 0"></origin>
		</collision>
		<collision>
			<geometry>
				<sphere radius="0.041961"></sphere>
			</geometry>
			<origin xyz="-0.00822747484532619 -0.0009522326303920744 -0.058668854683742735" rpy="0 0 0"></origin>
		</collision>
		<collision>
			<geometry>
				<sphere radius="0.023362"></sphere>
			</geometry>
			<origin xyz="0.012706525154673812 0.022157767369607922 -0.06824885468374273" rpy="0 0 0"></origin>
		</collision>
		<collision>
			<geometry>
				<sphere radius="0.023299"></sphere>
			</geometry>
			<origin xyz="0.011525525154673814 0.023777767369607926 0.006914145316257267" rpy="0 0 0"></origin>
		</collision>
	</link>
	<link name="Link_Right_Forearm_to_Wrist_Upper">
		<visual>
			<origin xyz="0 0 0" rpy="0 0 0"></origin>
			<geometry>
				<mesh filename="package://meshes/Link_Right_Forearm_to_Wrist_Upper.STL"></mesh>
			</geometry>
		</visual>
		<collision>
			<geometry>
				<sphere radius="0.033399"></sphere>
			</geometry>
			<origin xyz="0.04014096650598872 -0.0002984368208591419 0.047553330991198586" rpy="0 0 0"></origin>
		</collision>
		<collision>
			<geometry>
				<sphere radius="0.036293"></sphere>
			</geometry>
			<origin xyz="0.025564966505988728 -0.021511436820859143 0.0031993309911985818" rpy="0 0 0"></origin>
		</collision>
		<collision>
			<geometry>
				<sphere radius="0.037921"></sphere>
			</geometry>
			<origin xyz="0.025536966505988728 0.024236563179140858 0.003327330991198585" rpy="0 0 0"></origin>
		</collision>
		<collision>
			<geometry>
				<sphere radius="0.032255"></sphere>
			</geometry>
			<origin xyz="-0.025693033494011273 0.024413563179140858 0.0029383309911985844" rpy="0 0 0"></origin>
		</collision>
		<collision>
			<geometry>
				<sphere radius="0.036137"></sphere>
			</geometry>
			<origin xyz="-0.026698033494011272 -0.023707436820859143 0.0035443309911985833" rpy="0 0 0"></origin>
		</collision>
		<collision>
			<geometry>
				<sphere radius="0.027497"></sphere>
			</geometry>
			<origin xyz="-0.03835403349401127 0.004857563179140858 0.0062133309911985846" rpy="0 0 0"></origin>
		</collision>
		<collision>
			<geometry>
				<sphere radius="0.030441"></sphere>
			</geometry>
			<origin xyz="-0.04357103349401127 -0.006879436820859142 0.05237733099119858" rpy="0 0 0"></origin>
		</collision>
		<collision>
			<geometry>
				<sphere radius="0.026535"></sphere>
			</geometry>
			<origin xyz="-0.04037203349401128 0.019250563179140857 0.05310033099119858" rpy="0 0 0"></origin>
		</collision>
	</link>
	<link name="Link_Right_Wrist_Upper_to_Wrist_Lower ">
		<visual>
			<origin xyz="0 0 0" rpy="0 0 0"></origin>
			<geometry>
				<mesh filename="package://meshes/Link_Right_Wrist_Upper_to_Wrist_Lower .STL"></mesh>
			</geometry>
		</visual>
		<collision>
			<geometry>
				<sphere radius="0.042426"></sphere>
			</geometry>
			<origin xyz="0.0002933121810317803 -0.010497355079428507 -0.021179153279923493" rpy="0 0 0"></origin>
		</collision>
		<collision>
			<geometry>
				<sphere radius="0.043397"></sphere>
			</geometry>
			<origin xyz="-0.0032526878189682203 0.006855644920571493 -0.02440015327992349" rpy="0 0 0"></origin>
		</collision>
		<collision>
			<geometry>
				<sphere radius="0.045781"></sphere>
			</geometry>
			<origin xyz="-0.008684687818968216 -0.0046833550794285065 -0.04172715327992349" rpy="0 0 0"></origin>
		</collision>
		<collision>
			<geometry>
				<sphere radius="0.046469"></sphere>
			</geometry>
			<origin xyz="0.018180312181031784 0.008935644920571494 -0.041363153279923494" rpy="0 0 0"></origin>
		</collision>
		<collision>
			<geometry>
				<sphere radius="0.042266"></sphere>
			</geometry>
			<origin xyz="0.030587312181031782 -0.008828355079428507 -0.04136915327992349" rpy="0 0 0"></origin>
		</collision>
		<collision>
			<geometry>
				<sphere radius="0.053583"></sphere>
			</geometry>
			<origin xyz="0.037018312181031784 0.0001476449205714937 -0.03139215327992349" rpy="0 0 0"></origin>
		</collision>
		<collision>
			<geometry>
				<sphere radius="0.045113"></sphere>
			</geometry>
			<origin xyz="0.059186312181031785 0.005891644920571494 -0.03344415327992349" rpy="0 0 0"></origin>
		</collision>
		<collision>
			<geometry>
				<sphere radius="0.043304"></sphere>
			</geometry>
			<origin xyz="0.06421931218103177 -0.008715355079428506 -0.032129153279923495" rpy="0 0 0"></origin>
		</collision>
	</link>
	<link name="Link_Right_Wrist_Lower_to_Gripper">
		<visual>
			<origin xyz="0 0 0" rpy="0 0 0"></origin>
			<geometry>
				<mesh filename="package://meshes/Link_Right_Wrist_Lower_to_Gripper.STL"></mesh>
			</geometry>
		</visual>
		<collision>
			<geometry>
				<sphere radius="0.024495"></sphere>
			</geometry>
			<origin xyz="-2.481031121566446e-05 -6.52406274477805e-05 0.005095097514544331" rpy="0 0 0"></origin>
		</collision>
		<collision>
			<geometry>
				<sphere radius="0.039515"></sphere>
			</geometry>
			<origin xyz="0.03337118968878433 0.0040007593725522195 -0.004671902485455671" rpy="0 0 0"></origin>
		</collision>
		<collision>
			<geometry>
				<sphere radius="0.040998"></sphere>
			</geometry>
			<origin xyz="0.061655189688784334 -0.0027482406274477807 -0.02933090248545567" rpy="0 0 0"></origin>
		</collision>
		<collision>
			<geometry>
				<sphere radius="0.027706"></sphere>
			</geometry>
			<origin xyz="0.0015681896887843327 -0.0038812406274477806 -0.07373590248545567" rpy="0 0 0"></origin>
		</collision>
		<collision>
			<geometry>
				<sphere radius="0.040181"></sphere>
			</geometry>
			<origin xyz="0.04863718968878433 6.975937255221948e-05 -0.05138290248545567" rpy="0 0 0"></origin>
		</collision>
		<collision>
			<geometry>
				<sphere radius="0.023596"></sphere>
			</geometry>
			<origin xyz="0.017061189688784333 0.00896175937255222 -0.07106390248545567" rpy="0 0 0"></origin>
		</collision>
		<collision>
			<geometry>
				<sphere radius="0.042787"></sphere>
			</geometry>
			<origin xyz="0.10548318968878434 -9.02406274477805e-05 -0.02663890248545567" rpy="0 0 0"></origin>
		</collision>
		<collision>
			<geometry>
				<sphere radius="0.038999"></sphere>
			</geometry>
			<origin xyz="0.09906518968878433 -0.00010824062744778051 -0.04095790248545567" rpy="0 0 0"></origin>
		</collision>
	</link>
	<link name="Link_Right_Gripper">
		<visual>
			<origin xyz="0 0 0" rpy="0 0 0"></origin>
			<geometry>
				<mesh filename="package://meshes/Link_Right_Gripper.STL"></mesh>
			</geometry>
		</visual>
		<collision>
			<geometry>
				<sphere radius="0.02047"></sphere>
			</geometry>
			<origin xyz="0.019922308455821134 -0.021437792049140047 -0.007527165474800392" rpy="0 0 0"></origin>
		</collision>
		<collision>
			<geometry>
				<sphere radius="0.016627"></sphere>
			</geometry>
			<origin xyz="0.010277308455821133 -0.042442792049140046 -0.003159165474800392" rpy="0 0 0"></origin>
		</collision>
		<collision>
			<geometry>
				<sphere radius="0.014307"></sphere>
			</geometry>
			<origin xyz="-3.769154417886632e-05 -0.05875879204914004 -0.0017401654748003918" rpy="0 0 0"></origin>
		</collision>
		<collision>
			<geometry>
				<sphere radius="0.015077"></sphere>
			</geometry>
			<origin xyz="0.0018503084558211327 -0.05596679204914005 -0.016575165474800393" rpy="0 0 0"></origin>
		</collision>
		<collision>
			<geometry>
				<sphere radius="0.016648"></sphere>
			</geometry>
			<origin xyz="0.010030308455821134 -0.04303579204914004 -0.01974716547480039" rpy="0 0 0"></origin>
		</collision>
		<collision>
			<geometry>
				<sphere radius="0.021073"></sphere>
			</geometry>
			<origin xyz="0.019729308455821132 -0.021981792049140046 -0.014383165474800392" rpy="0 0 0"></origin>
		</collision>
		<collision>
			<geometry>
				<sphere radius="0.013899"></sphere>
			</geometry>
			<origin xyz="0.0019413084558211335 -0.0014067920491400467 -0.011170165474800391" rpy="0 0 0"></origin>
		</collision>
		<collision>
			<geometry>
				<sphere radius="0.012335"></sphere>
			</geometry>
			<origin xyz="-0.0038096915441788656 0.011703207950859953 -0.011153165474800391" rpy="0 0 0"></origin>
		</collision>
	</link>
	<link name="Link_Left_Gripper_Left_Inner_Knuckle">
		<visual>
			<origin xyz="0 0 0" rpy="0 0 0"></origin>
			<geometry>
				<mesh filename="package://meshes/Link_Left_Gripper_Left_Inner_Knuckle.STL"></mesh>
			</geometry>
		</visual>
		<collision>
			<geometry>
				<sphere radius="0.012885"></sphere>
			</geometry>
			<origin xyz="-0.002230112842172384 -0.04059059930896759 -0.003083999940395356" rpy="0 0 0"></origin>
		</collision>
		<collision>
			<geometry>
				<sphere radius="0.009212"></sphere>
			</geometry>
			<origin xyz="-0.0008191128421723842 -0.002623599308967592 -0.025598999940395356" rpy="0 0 0"></origin>
		</collision>
		<collision>
			<geometry>
				<sphere radius="0.014234"></sphere>
			</geometry>
			<origin xyz="-0.0027471128421723843 -0.02349959930896759 0.002241000059604644" rpy="0 0 0"></origin>
		</collision>
		<collision>
			<geometry>
				<sphere radius="0.00996"></sphere>
			</geometry>
			<origin xyz="0.0011298871578276156 -0.003366599308967589 0.003600000059604645" rpy="0 0 0"></origin>
		</collision>
		<collision>
			<geometry>
				<sphere radius="0.00765"></sphere>
			</geometry>
			<origin xyz="-0.003249112842172384 -0.05569459930896759 0.0003890000596046446" rpy="0 0 0"></origin>
		</collision>
		<collision>
			<geometry>
				<sphere radius="0.009684"></sphere>
			</geometry>
			<origin xyz="-0.0018081128421723843 -0.05385559930896759 -0.021726999940395356" rpy="0 0 0"></origin>
		</collision>
		<collision>
			<geometry>
				<sphere radius="0.013507"></sphere>
			</geometry>
			<origin xyz="-0.0021531128421723843 -0.03815159930896759 -0.020649999940395354" rpy="0 0 0"></origin>
		</collision>
		<collision>
			<geometry>
				<sphere radius="0.011153"></sphere>
			</geometry>
			<origin xyz="-0.0007641128421723843 -0.018616599308967592 -0.025599999940395357" rpy="0 0 0"></origin>
		</collision>
	</link>
	<link name="Joint_Left_Gripper_Left_Finger">
		<visual>
			<origin xyz="0 0 0" rpy="0 0 0"></origin>
			<geometry>
				<mesh filename="package://meshes/Joint_Left_Gripper_Left_Finger.STL"></mesh>
			</geometry>
		</visual>
		<collision>
			<geometry>
				<sphere radius="0.016055"></sphere>
			</geometry>
			<origin xyz="0.0009897798933210904 -0.009450969941937788 -0.00771925020434389" rpy="0 0 0"></origin>
		</collision>
		<collision>
			<geometry>
				<sphere radius="0.012328"></sphere>
			</geometry>
			<origin xyz="0.015033779893321091 0.005441030058062211 -0.007619250204343891" rpy="0 0 0"></origin>
		</collision>
		<collision>
			<geometry>
				<sphere radius="0.014819"></sphere>
			</geometry>
			<origin xyz="-0.0017852201066789093 -0.03174596994193779 -0.013389250204343891" rpy="0 0 0"></origin>
		</collision>
		<collision>
			<geometry>
				<sphere radius="0.015793"></sphere>
			</geometry>
			<origin xyz="-0.0004122201066789101 -0.01850796994193779 -0.007225250204343891" rpy="0 0 0"></origin>
		</collision>
		<collision>
			<geometry>
				<sphere radius="0.014066"></sphere>
			</geometry>
			<origin xyz="-0.0020412201066789103 -0.03526096994193779 -0.0028702502043438903" rpy="0 0 0"></origin>
		</collision>
		<collision>
			<geometry>
				<sphere radius="0.013469"></sphere>
			</geometry>
			<origin xyz="-0.00330522010667891 -0.04587096994193779 -0.00846625020434389" rpy="0 0 0"></origin>
		</collision>
		<collision>
			<geometry>
				<sphere radius="0.009927"></sphere>
			</geometry>
			<origin xyz="-0.00509522010667891 -0.05356396994193779 -0.008300250204343891" rpy="0 0 0"></origin>
		</collision>
		<collision>
			<geometry>
				<sphere radius="0.013449"></sphere>
			</geometry>
			<origin xyz="0.004644779893321091 -0.00020096994193778694 -0.008198250204343891" rpy="0 0 0"></origin>
		</collision>
	</link>
	<link name="Link_Left_Gripper_Right_Outer_Knuckle">
		<visual>
			<origin xyz="0 0 0" rpy="0 0 0"></origin>
			<geometry>
				<mesh filename="package://meshes/Link_Left_Gripper_Right_Outer_Knuckle.STL"></mesh>
			</geometry>
		</visual>
		<collision>
			<geometry>
				<sphere radius="0.014081"></sphere>
			</geometry>
			<origin xyz="0.0030205500300188714 0.009964820426660637 -0.01119872149535585" rpy="0 0 0"></origin>
		</collision>
		<collision>
			<geometry>
				<sphere radius="0.015966"></sphere>
			</geometry>
			<origin xyz="-0.004866449969981129 -0.004139179573339358 -0.01193072149535585" rpy="0 0 0"></origin>
		</collision>
		<collision>
			<geometry>
				<sphere radius="0.019633"></sphere>
			</geometry>
			<origin xyz="-0.02091944996998113 -0.02321317957333936 -0.0071047214953558506" rpy="0 0 0"></origin>
		</collision>
		<collision>
			<geometry>
				<sphere radius="0.018941"></sphere>
			</geometry>
			<origin xyz="-0.02095444996998113 -0.02303217957333936 -0.01516972149535585" rpy="0 0 0"></origin>
		</collision>
		<collision>
			<geometry>
				<sphere radius="0.016893"></sphere>
			</geometry>
			<origin xyz="-0.012245449969981129 -0.04143117957333936 -0.018785721495355852" rpy="0 0 0"></origin>
		</collision>
		<collision>
			<geometry>
				<sphere radius="0.016232"></sphere>
			</geometry>
			<origin xyz="-0.010075449969981129 -0.044797179573339355 -0.0030137214953558505" rpy="0 0 0"></origin>
		</collision>
		<collision>
			<geometry>
				<sphere radius="0.014159"></sphere>
			</geometry>
			<origin xyz="-0.0012164499699811298 -0.057282179573339365 -0.02050372149535585" rpy="0 0 0"></origin>
		</collision>
		<collision>
			<geometry>
				<sphere radius="0.013998"></sphere>
			</geometry>
			<origin xyz="-0.0015294499699811288 -0.058295179573339365 -0.0026537214953558513" rpy="0 0 0"></origin>
		</collision>
	</link>
	<link name="Link_Left_Gripper_Right_Inner_Knuckle">
		<visual>
			<origin xyz="0 0 0" rpy="0 0 0"></origin>
			<geometry>
				<mesh filename="package://meshes/Link_Left_Gripper_Right_Inner_Knuckle.STL"></mesh>
			</geometry>
		</visual>
		<collision>
			<geometry>
				<sphere radius="0.010462"></sphere>
			</geometry>
			<origin xyz="0.0011641128421723843 -0.003885599308967591 -0.025599999940395357" rpy="0 0 0"></origin>
		</collision>
		<collision>
			<geometry>
				<sphere radius="0.013451"></sphere>
			</geometry>
			<origin xyz="0.0002381128421723843 -0.02393359930896759 -0.024315999940395357" rpy="0 0 0"></origin>
		</collision>
		<collision>
			<geometry>
				<sphere radius="0.00984"></sphere>
			</geometry>
			<origin xyz="0.0021891128421723843 -0.03808459930896759 -0.020502999940395353" rpy="0 0 0"></origin>
		</collision>
		<collision>
			<geometry>
				<sphere radius="0.011874"></sphere>
			</geometry>
			<origin xyz="0.0029391128421723846 -0.05207859930896759 -0.019254999940395354" rpy="0 0 0"></origin>
		</collision>
		<collision>
			<geometry>
				<sphere radius="0.012464"></sphere>
			</geometry>
			<origin xyz="0.002086112842172384 -0.036956599308967594 -0.004292999940395355" rpy="0 0 0"></origin>
		</collision>
		<collision>
			<geometry>
				<sphere radius="0.011575"></sphere>
			</geometry>
			<origin xyz="0.0029651128421723846 -0.05254359930896759 -0.0030039999403953556" rpy="0 0 0"></origin>
		</collision>
		<collision>
			<geometry>
				<sphere radius="0.013168"></sphere>
			</geometry>
			<origin xyz="0.0032631128421723842 -0.02477459930896759 0.002345000059604644" rpy="0 0 0"></origin>
		</collision>
		<collision>
			<geometry>
				<sphere radius="0.010888"></sphere>
			</geometry>
			<origin xyz="-0.0010138871578276158 -0.00439459930896759 0.003600000059604645" rpy="0 0 0"></origin>
		</collision>
	</link>
	<link name="Link_Left_Gripper_Right_Finger">
		<visual>
			<origin xyz="0 0 0" rpy="0 0 0"></origin>
			<geometry>
				<mesh filename="package://meshes/Link_Left_Gripper_Right_Finger.STL"></mesh>
			</geometry>
		</visual>
		<collision>
			<geometry>
				<sphere radius="0.014697"></sphere>
			</geometry>
			<origin xyz="-0.010061107925602351 0.0020949684881981685 -0.008956751165943426" rpy="0 0 0"></origin>
		</collision>
		<collision>
			<geometry>
				<sphere radius="0.010833"></sphere>
			</geometry>
			<origin xyz="-0.016507107925602352 0.0056359684881981675 -0.007082751165943426" rpy="0 0 0"></origin>
		</collision>
		<collision>
			<geometry>
				<sphere radius="0.014339"></sphere>
			</geometry>
			<origin xyz="-0.0012971079256023513 -0.00626803151180183 -0.006196751165943426" rpy="0 0 0"></origin>
		</collision>
		<collision>
			<geometry>
				<sphere radius="0.016352"></sphere>
			</geometry>
			<origin xyz="-0.0012931079256023516 -0.01032903151180183 -0.011564751165943426" rpy="0 0 0"></origin>
		</collision>
		<collision>
			<geometry>
				<sphere radius="0.015204"></sphere>
			</geometry>
			<origin xyz="-0.0005601079256023515 -0.020590031511801832 -0.004633751165943426" rpy="0 0 0"></origin>
		</collision>
		<collision>
			<geometry>
				<sphere radius="0.015501"></sphere>
			</geometry>
			<origin xyz="0.0010988920743976484 -0.03324503151180183 -0.014414751165943426" rpy="0 0 0"></origin>
		</collision>
		<collision>
			<geometry>
				<sphere radius="0.014121"></sphere>
			</geometry>
			<origin xyz="0.0018778920743976486 -0.041423031511801836 -0.002675751165943426" rpy="0 0 0"></origin>
		</collision>
		<collision>
			<geometry>
				<sphere radius="0.012044"></sphere>
			</geometry>
			<origin xyz="0.0035768920743976477 -0.05140703151180183 -0.010486751165943426" rpy="0 0 0"></origin>
		</collision>
	</link>
	<link name="Link_Right_Gripper_Left_Inner_Knuckle">
		<visual>
			<origin xyz="0 0 0" rpy="0 0 0"></origin>
			<geometry>
				<mesh filename="package://meshes/Link_Right_Gripper_Left_Inner_Knuckle.STL"></mesh>
			</geometry>
		</visual>
		<collision>
			<geometry>
				<sphere radius="0.012885"></sphere>
			</geometry>
			<origin xyz="-0.002230112842172384 -0.04059059930896759 -0.003083999940395356" rpy="0 0 0"></origin>
		</collision>
		<collision>
			<geometry>
				<sphere radius="0.009212"></sphere>
			</geometry>
			<origin xyz="-0.0008191128421723842 -0.002623599308967592 -0.025598999940395356" rpy="0 0 0"></origin>
		</collision>
		<collision>
			<geometry>
				<sphere radius="0.014234"></sphere>
			</geometry>
			<origin xyz="-0.0027471128421723843 -0.02349959930896759 0.002241000059604644" rpy="0 0 0"></origin>
		</collision>
		<collision>
			<geometry>
				<sphere radius="0.00996"></sphere>
			</geometry>
			<origin xyz="0.0011298871578276156 -0.003366599308967589 0.003600000059604645" rpy="0 0 0"></origin>
		</collision>
		<collision>
			<geometry>
				<sphere radius="0.00765"></sphere>
			</geometry>
			<origin xyz="-0.003249112842172384 -0.05569459930896759 0.0003890000596046446" rpy="0 0 0"></origin>
		</collision>
		<collision>
			<geometry>
				<sphere radius="0.009684"></sphere>
			</geometry>
			<origin xyz="-0.0018081128421723843 -0.05385559930896759 -0.021726999940395356" rpy="0 0 0"></origin>
		</collision>
		<collision>
			<geometry>
				<sphere radius="0.013507"></sphere>
			</geometry>
			<origin xyz="-0.0021531128421723843 -0.03815159930896759 -0.020649999940395354" rpy="0 0 0"></origin>
		</collision>
		<collision>
			<geometry>
				<sphere radius="0.011153"></sphere>
			</geometry>
			<origin xyz="-0.0007641128421723843 -0.018616599308967592 -0.025599999940395357" rpy="0 0 0"></origin>
		</collision>
	</link>
	<link name="Link_Right_Gripper_Left_Finger">
		<visual>
			<origin xyz="0 0 0" rpy="0 0 0"></origin>
			<geometry>
				<mesh filename="package://meshes/Link_Right_Gripper_Left_Finger.STL"></mesh>
			</geometry>
		</visual>
		<collision>
			<geometry>
				<sphere radius="0.016055"></sphere>
			</geometry>
			<origin xyz="0.0009897798933210904 -0.009450969941937788 -0.00771925020434389" rpy="0 0 0"></origin>
		</collision>
		<collision>
			<geometry>
				<sphere radius="0.012328"></sphere>
			</geometry>
			<origin xyz="0.015033779893321091 0.005441030058062211 -0.007619250204343891" rpy="0 0 0"></origin>
		</collision>
		<collision>
			<geometry>
				<sphere radius="0.014819"></sphere>
			</geometry>
			<origin xyz="-0.0017852201066789093 -0.03174596994193779 -0.013389250204343891" rpy="0 0 0"></origin>
		</collision>
		<collision>
			<geometry>
				<sphere radius="0.015793"></sphere>
			</geometry>
			<origin xyz="-0.0004122201066789101 -0.01850796994193779 -0.007225250204343891" rpy="0 0 0"></origin>
		</collision>
		<collision>
			<geometry>
				<sphere radius="0.014066"></sphere>
			</geometry>
			<origin xyz="-0.0020412201066789103 -0.03526096994193779 -0.0028702502043438903" rpy="0 0 0"></origin>
		</collision>
		<collision>
			<geometry>
				<sphere radius="0.013469"></sphere>
			</geometry>
			<origin xyz="-0.00330522010667891 -0.04587096994193779 -0.00846625020434389" rpy="0 0 0"></origin>
		</collision>
		<collision>
			<geometry>
				<sphere radius="0.009927"></sphere>
			</geometry>
			<origin xyz="-0.00509522010667891 -0.05356396994193779 -0.008300250204343891" rpy="0 0 0"></origin>
		</collision>
		<collision>
			<geometry>
				<sphere radius="0.013449"></sphere>
			</geometry>
			<origin xyz="0.004644779893321091 -0.00020096994193778694 -0.008198250204343891" rpy="0 0 0"></origin>
		</collision>
	</link>
	<link name="Link_Right_Gripper_Right_Outer_Knuckle">
		<visual>
			<origin xyz="0 0 0" rpy="0 0 0"></origin>
			<geometry>
				<mesh filename="package://meshes/Link_Right_Gripper_Right_Outer_Knuckle.STL"></mesh>
			</geometry>
		</visual>
		<collision>
			<geometry>
				<sphere radius="0.014081"></sphere>
			</geometry>
			<origin xyz="0.0030205500300188714 0.009964820426660637 -0.01119872149535585" rpy="0 0 0"></origin>
		</collision>
		<collision>
			<geometry>
				<sphere radius="0.015966"></sphere>
			</geometry>
			<origin xyz="-0.004866449969981129 -0.004139179573339358 -0.01193072149535585" rpy="0 0 0"></origin>
		</collision>
		<collision>
			<geometry>
				<sphere radius="0.019633"></sphere>
			</geometry>
			<origin xyz="-0.02091944996998113 -0.02321317957333936 -0.0071047214953558506" rpy="0 0 0"></origin>
		</collision>
		<collision>
			<geometry>
				<sphere radius="0.018941"></sphere>
			</geometry>
			<origin xyz="-0.02095444996998113 -0.02303217957333936 -0.01516972149535585" rpy="0 0 0"></origin>
		</collision>
		<collision>
			<geometry>
				<sphere radius="0.016893"></sphere>
			</geometry>
			<origin xyz="-0.012245449969981129 -0.04143117957333936 -0.018785721495355852" rpy="0 0 0"></origin>
		</collision>
		<collision>
			<geometry>
				<sphere radius="0.016232"></sphere>
			</geometry>
			<origin xyz="-0.010075449969981129 -0.044797179573339355 -0.0030137214953558505" rpy="0 0 0"></origin>
		</collision>
		<collision>
			<geometry>
				<sphere radius="0.014159"></sphere>
			</geometry>
			<origin xyz="-0.0012164499699811298 -0.057282179573339365 -0.02050372149535585" rpy="0 0 0"></origin>
		</collision>
		<collision>
			<geometry>
				<sphere radius="0.013998"></sphere>
			</geometry>
			<origin xyz="-0.0015294499699811288 -0.058295179573339365 -0.0026537214953558513" rpy="0 0 0"></origin>
		</collision>
	</link>
	<link name="Link_Right_Gripper_Right_Inner_Knuckle">
		<visual>
			<origin xyz="0 0 0" rpy="0 0 0"></origin>
			<geometry>
				<mesh filename="package://meshes/Link_Right_Gripper_Right_Inner_Knuckle.STL"></mesh>
			</geometry>
		</visual>
		<collision>
			<geometry>
				<sphere radius="0.012477"></sphere>
			</geometry>
			<origin xyz="0.0029821195793250394 -0.05237293503269795 -0.001635019619477443" rpy="0 0 0"></origin>
		</collision>
		<collision>
			<geometry>
				<sphere radius="0.013022"></sphere>
			</geometry>
			<origin xyz="0.0022711195793250396 -0.05201793503269795 -0.020225019619477442" rpy="0 0 0"></origin>
		</collision>
		<collision>
			<geometry>
				<sphere radius="0.013482"></sphere>
			</geometry>
			<origin xyz="0.0017811195793250392 -0.03870693503269795 -0.01765401961947744" rpy="0 0 0"></origin>
		</collision>
		<collision>
			<geometry>
				<sphere radius="0.014292"></sphere>
			</geometry>
			<origin xyz="0.0018381195793250394 -0.03700793503269795 -0.0008220196194774418" rpy="0 0 0"></origin>
		</collision>
		<collision>
			<geometry>
				<sphere radius="0.012973"></sphere>
			</geometry>
			<origin xyz="-0.0005408804206749607 -0.02350993503269795 -0.02575801961947744" rpy="0 0 0"></origin>
		</collision>
		<collision>
			<geometry>
				<sphere radius="0.011852"></sphere>
			</geometry>
			<origin xyz="0.0012101195793250393 -0.004068935032697951 -0.025843019619477443" rpy="0 0 0"></origin>
		</collision>
		<collision>
			<geometry>
				<sphere radius="0.011867"></sphere>
			</geometry>
			<origin xyz="0.0006381195793250394 -0.016635935032697953 0.003743980380522557" rpy="0 0 0"></origin>
		</collision>
		<collision>
			<geometry>
				<sphere radius="0.009674"></sphere>
			</geometry>
			<origin xyz="0.0001001195793250394 -0.0020539350326979518 0.003456980380522558" rpy="0 0 0"></origin>
		</collision>
	</link>
	<link name="Link_Right_Gripper_Right_Finger">
		<visual>
			<origin xyz="0 0 0" rpy="0 0 0"></origin>
			<geometry>
				<mesh filename="package://meshes/Link_Right_Gripper_Right_Finger.STL"></mesh>
			</geometry>
		</visual>
		<collision>
			<geometry>
				<sphere radius="0.014697"></sphere>
			</geometry>
			<origin xyz="-0.010061107925602351 0.0020949684881981685 -0.008956751165943426" rpy="0 0 0"></origin>
		</collision>
		<collision>
			<geometry>
				<sphere radius="0.010833"></sphere>
			</geometry>
			<origin xyz="-0.016507107925602352 0.0056359684881981675 -0.007082751165943426" rpy="0 0 0"></origin>
		</collision>
		<collision>
			<geometry>
				<sphere radius="0.014339"></sphere>
			</geometry>
			<origin xyz="-0.0012971079256023513 -0.00626803151180183 -0.006196751165943426" rpy="0 0 0"></origin>
		</collision>
		<collision>
			<geometry>
				<sphere radius="0.016352"></sphere>
			</geometry>
			<origin xyz="-0.0012931079256023516 -0.01032903151180183 -0.011564751165943426" rpy="0 0 0"></origin>
		</collision>
		<collision>
			<geometry>
				<sphere radius="0.015204"></sphere>
			</geometry>
			<origin xyz="-0.0005601079256023515 -0.020590031511801832 -0.004633751165943426" rpy="0 0 0"></origin>
		</collision>
		<collision>
			<geometry>
				<sphere radius="0.015501"></sphere>
			</geometry>
			<origin xyz="0.0010988920743976484 -0.03324503151180183 -0.014414751165943426" rpy="0 0 0"></origin>
		</collision>
		<collision>
			<geometry>
				<sphere radius="0.014121"></sphere>
			</geometry>
			<origin xyz="0.0018778920743976486 -0.041423031511801836 -0.002675751165943426" rpy="0 0 0"></origin>
		</collision>
		<collision>
			<geometry>
				<sphere radius="0.012044"></sphere>
			</geometry>
			<origin xyz="0.0035768920743976477 -0.05140703151180183 -0.010486751165943426" rpy="0 0 0"></origin>
		</collision>
	</link>
	<link name="Link_Knee_Black_Cover">
		<visual>
			<origin xyz="0 0 0" rpy="0 0 0"></origin>
			<geometry>
				<mesh filename="package://meshes/Link_Knee_Black_Cover.STL"></mesh>
			</geometry>
		</visual>
		<collision>
			<geometry>
				<sphere radius="0.087582"></sphere>
			</geometry>
			<origin xyz="-0.0238310392756661 0.017517658206575006 0.0565548151559064" rpy="0 0 0"></origin>
		</collision>
		<collision>
			<geometry>
				<sphere radius="0.102584"></sphere>
			</geometry>
			<origin xyz="-0.1797070392756661 0.012942658206575008 0.0431258151559064" rpy="0 0 0"></origin>
		</collision>
		<collision>
			<geometry>
				<sphere radius="0.079392"></sphere>
			</geometry>
			<origin xyz="-0.3005230392756661 -0.0003563417934249924 0.0560798151559064" rpy="0 0 0"></origin>
		</collision>
		<collision>
			<geometry>
				<sphere radius="0.074489"></sphere>
			</geometry>
			<origin xyz="-0.3720860392756661 0.005495658206575008 0.0510708151559064" rpy="0 0 0"></origin>
		</collision>
		<collision>
			<geometry>
				<sphere radius="0.094466"></sphere>
			</geometry>
			<origin xyz="-0.031006039275666086 0.0064556582065750075 -0.041605184844093604" rpy="0 0 0"></origin>
		</collision>
		<collision>
			<geometry>
				<sphere radius="0.104382"></sphere>
			</geometry>
			<origin xyz="-0.18223103927566608 0.012489658206575008 -0.043945184844093606" rpy="0 0 0"></origin>
		</collision>
		<collision>
			<geometry>
				<sphere radius="0.079683"></sphere>
			</geometry>
			<origin xyz="-0.3075530392756661 -0.00021534179342499234 -0.054496184844093604" rpy="0 0 0"></origin>
		</collision>
		<collision>
			<geometry>
				<sphere radius="0.074351"></sphere>
			</geometry>
			<origin xyz="-0.35922103927566607 0.005940658206575008 -0.048531184844093606" rpy="0 0 0"></origin>
		</collision>
	</link>
	<link name="Link_Mask">
		<visual>
			<origin xyz="0 0 0" rpy="0 0 0"></origin>
			<geometry>
				<mesh filename="package://meshes/Link_Mask.STL"></mesh>
			</geometry>
		</visual>
		<collision>
			<geometry>
				<sphere radius="0.048012"></sphere>
			</geometry>
			<origin xyz="0.035844553513094755 -0.07560564861962353 -0.17349941118728313" rpy="0 0 0"></origin>
		</collision>
		<collision>
			<geometry>
				<sphere radius="0.045544"></sphere>
			</geometry>
			<origin xyz="0.04975255351309476 -0.10382764861962353 -0.10829541118728313" rpy="0 0 0"></origin>
		</collision>
		<collision>
			<geometry>
				<sphere radius="0.045794"></sphere>
			</geometry>
			<origin xyz="-0.011798446486905244 -0.11379564861962353 -0.14216941118728313" rpy="0 0 0"></origin>
		</collision>
		<collision>
			<geometry>
				<sphere radius="0.048066"></sphere>
			</geometry>
			<origin xyz="-0.04221444648690524 -0.07684064861962353 -0.16916641118728315" rpy="0 0 0"></origin>
		</collision>
		<collision>
			<geometry>
				<sphere radius="0.047611"></sphere>
			</geometry>
			<origin xyz="-0.05106244648690524 -0.10384964861962354 -0.09402641118728314" rpy="0 0 0"></origin>
		</collision>
		<collision>
			<geometry>
				<sphere radius="0.047779"></sphere>
			</geometry>
			<origin xyz="-0.004438446486905244 -0.12107764861962353 -0.06286241118728314" rpy="0 0 0"></origin>
		</collision>
		<collision>
			<geometry>
				<sphere radius="0.045536"></sphere>
			</geometry>
			<origin xyz="0.03728255351309476 -0.10290064861962353 -0.03763941118728313" rpy="0 0 0"></origin>
		</collision>
		<collision>
			<geometry>
				<sphere radius="0.043435"></sphere>
			</geometry>
			<origin xyz="-0.028672446486905243 -0.10869864861962353 -0.025942411187283132" rpy="0 0 0"></origin>
		</collision>
	</link>
	<link name="Link_Chest_Front_Cover">
		<visual>
			<origin xyz="0 0 0" rpy="0 0 0"></origin>
			<geometry>
				<mesh filename="package://meshes/Link_Chest_Front_Cover.STL"></mesh>
			</geometry>
		</visual>
		<collision>
			<geometry>
				<sphere radius="0.042394"></sphere>
			</geometry>
			<origin xyz="0.13932996358464111 0.034339137570323544 -0.3948396101175329" rpy="0 0 0"></origin>
		</collision>
		<collision>
			<geometry>
				<sphere radius="0.044767"></sphere>
			</geometry>
			<origin xyz="0.06441996358464111 0.03482113757032355 -0.3941476101175329" rpy="0 0 0"></origin>
		</collision>
		<collision>
			<geometry>
				<sphere radius="0.0454"></sphere>
			</geometry>
			<origin xyz="0.1373809635846411 0.04419613757032355 -0.34379661011753293" rpy="0 0 0"></origin>
		</collision>
		<collision>
			<geometry>
				<sphere radius="0.046624"></sphere>
			</geometry>
			<origin xyz="0.0623119635846411 0.04185813757032355 -0.33974261011753293" rpy="0 0 0"></origin>
		</collision>
		<collision>
			<geometry>
				<sphere radius="0.045689"></sphere>
			</geometry>
			<origin xyz="0.1373839635846411 0.04185113757032355 -0.2873976101175329" rpy="0 0 0"></origin>
		</collision>
		<collision>
			<geometry>
				<sphere radius="0.04502"></sphere>
			</geometry>
			<origin xyz="0.0564489635846411 0.037831137570323546 -0.2807516101175329" rpy="0 0 0"></origin>
		</collision>
		<collision>
			<geometry>
				<sphere radius="0.039871"></sphere>
			</geometry>
			<origin xyz="0.0674359635846411 0.03583013757032355 -0.23948761011753292" rpy="0 0 0"></origin>
		</collision>
		<collision>
			<geometry>
				<sphere radius="0.042146"></sphere>
			</geometry>
			<origin xyz="0.1362939635846411 0.035707137570323545 -0.23979461011753292" rpy="0 0 0"></origin>
		</collision>
	</link>
	<link name="Link_Chest_Back_Cover">
		<visual>
			<origin xyz="0 0 0" rpy="0 0 0"></origin>
			<geometry>
				<mesh filename="package://meshes/Link_Chest_Back_Cover.STL"></mesh>
			</geometry>
		</visual>
		<collision>
			<geometry>
				<sphere radius="0.067035"></sphere>
			</geometry>
			<origin xyz="0.03501276885684962 -0.11983298753497382 -0.24468050286776305" rpy="0 0 0"></origin>
		</collision>
		<collision>
			<geometry>
				<sphere radius="0.068495"></sphere>
			</geometry>
			<origin xyz="0.20083476885684962 -0.06546498753497382 -0.22071850286776307" rpy="0 0 0"></origin>
		</collision>
		<collision>
			<geometry>
				<sphere radius="0.066575"></sphere>
			</geometry>
			<origin xyz="0.0032277688568496388 -0.06603798753497381 -0.22686650286776305" rpy="0 0 0"></origin>
		</collision>
		<collision>
			<geometry>
				<sphere radius="0.056382"></sphere>
			</geometry>
			<origin xyz="0.18333576885684963 -0.07962898753497381 -0.16902350286776308" rpy="0 0 0"></origin>
		</collision>
		<collision>
			<geometry>
				<sphere radius="0.054873"></sphere>
			</geometry>
			<origin xyz="0.13439676885684962 -0.12167498753497381 -0.18107550286776306" rpy="0 0 0"></origin>
		</collision>
		<collision>
			<geometry>
				<sphere radius="0.056554"></sphere>
			</geometry>
			<origin xyz="0.19262376885684962 -0.10631298753497381 -0.2505635028677631" rpy="0 0 0"></origin>
		</collision>
		<collision>
			<geometry>
				<sphere radius="0.076528"></sphere>
			</geometry>
			<origin xyz="0.03181376885684964 -0.09413698753497382 -0.17737050286776307" rpy="0 0 0"></origin>
		</collision>
		<collision>
			<geometry>
				<sphere radius="0.053563"></sphere>
			</geometry>
			<origin xyz="0.11901776885684963 -0.1257129875349738 -0.24833350286776307" rpy="0 0 0"></origin>
		</collision>
	</link>
	<link name="Link_Ground_Vehicle_Visual_Cover">
		<visual>
			<origin xyz="0 0 0" rpy="0 0 0"></origin>
			<geometry>
				<mesh filename="package://meshes/Link_Ground_Vehicle_Visual_Cover.STL"></mesh>
			</geometry>
		</visual>
		<collision>
			<geometry>
				<sphere radius="0.093048"></sphere>
			</geometry>
			<origin xyz="0.1462506026917842 0.20221333699308022 0.1624094531563387" rpy="0 0 0"></origin>
		</collision>
		<collision>
			<geometry>
				<sphere radius="0.09613"></sphere>
			</geometry>
			<origin xyz="0.14673760269178415 0.21628633699308022 0.02659645315633869" rpy="0 0 0"></origin>
		</collision>
		<collision>
			<geometry>
				<sphere radius="0.088961"></sphere>
			</geometry>
			<origin xyz="0.14982860269178416 0.20633333699308024 -0.09757154684366132" rpy="0 0 0"></origin>
		</collision>
		<collision>
			<geometry>
				<sphere radius="0.098714"></sphere>
			</geometry>
			<origin xyz="0.09989060269178418 0.17863433699308023 -0.22701454684366132" rpy="0 0 0"></origin>
		</collision>
		<collision>
			<geometry>
				<sphere radius="0.098635"></sphere>
			</geometry>
			<origin xyz="-0.08437539730821582 0.17601833699308023 -0.2338075468436613" rpy="0 0 0"></origin>
		</collision>
		<collision>
			<geometry>
				<sphere radius="0.095065"></sphere>
			</geometry>
			<origin xyz="-0.15005339730821582 0.20192933699308024 -0.10963954684366131" rpy="0 0 0"></origin>
		</collision>
		<collision>
			<geometry>
				<sphere radius="0.097899"></sphere>
			</geometry>
			<origin xyz="-0.14466039730821584 0.21987933699308024 0.02247745315633869" rpy="0 0 0"></origin>
		</collision>
		<collision>
			<geometry>
				<sphere radius="0.095803"></sphere>
			</geometry>
			<origin xyz="-0.14906539730821583 0.19861333699308023 0.1605694531563387" rpy="0 0 0"></origin>
		</collision>
	</link>
	<joint name="Joint_Ground_Vehicle_Z" type="fixed">
		<origin xyz="0 0 0" rpy="1.5707963267949 0 -1.57079632679516"></origin>
		<parent link="Link_Zero_Point"></parent>
		<child link="Link_Ground_Vehicle_Z"></child>
		<axis xyz="0 0 0"></axis>
	</joint>
	<joint name="Joint_Ankle" type="revolute">
		<origin xyz="0 0.27 0" rpy="1.5708 0 1.5708"></origin>
		<parent link="Link_Ground_Vehicle_Z"></parent>
		<child link="Link_Ankle_to_Knee"></child>
		<axis xyz="0 0 -1"></axis>
		<limit lower="-1.5708" upper="1.5708" effort="150" velocity="1"></limit>
	</joint>
	<joint name="Joint_Knee" type="revolute">
		<origin xyz="0.3495 0 0" rpy="0 0 0"></origin>
		<parent link="Link_Ankle_to_Knee"></parent>
		<child link="Link_Knee_to_Waist_Pitch"></child>
		<axis xyz="0 0 1"></axis>
		<limit lower="-3.14" upper="3.14" effort="150" velocity="1"></limit>
	</joint>
	<joint name="Joint_Waist_Pitch" type="revolute">
		<origin xyz="0.3705 0 0" rpy="0 0 0"></origin>
		<parent link="Link_Knee_to_Waist_Pitch"></parent>
		<child link="Link_Waist_Pitch_to_Waist_Yaw"></child>
		<axis xyz="0 0 -1"></axis>
		<limit lower="-3" upper="3" effort="98" velocity="1"></limit>
	</joint>
	<joint name="Joint_Waist_Yaw" type="revolute">
		<origin xyz="0.06643 0 0" rpy="-1.5708 0 -1.5708"></origin>
		<parent link="Link_Waist_Pitch_to_Waist_Yaw"></parent>
		<child link="Link_Waist_Yaw_to_Shoulder_Inner"></child>
		<axis xyz="0 0 1"></axis>
		<limit lower="-3.141" upper="3.141" effort="66" velocity="1"></limit>
	</joint>
	<joint name="Joint_Left_Shoulder_Inner" type="revolute">
		<origin xyz="0 0.1311 0.25157" rpy="-1.5708 0 0"></origin>
		<parent link="Link_Waist_Yaw_to_Shoulder_Inner"></parent>
		<child link="Link_Left_Shoulder_Inner_to_Shoulder_Outer"></child>
		<axis xyz="0 0 -1"></axis>
		<limit lower="-2.6179" upper="3.141" effort="21" velocity="1"></limit>
	</joint>
	<joint name="Joint_Left_Shoulder_Outer" type="revolute">
		<origin xyz="0.02825 0 0.074" rpy="1.5708 0 1.5708"></origin>
		<parent link="Link_Left_Shoulder_Inner_to_Shoulder_Outer"></parent>
		<child link="Link_Left_Shoulder_Outer_to_UpperArm"></child>
		<axis xyz="0 0 1"></axis>
		<limit lower="-0.349" upper="3.1415" effort="18" velocity="1"></limit>
	</joint>
	<joint name="Joint_Left_UpperArm" type="revolute">
		<origin xyz="0.1105 0.011 -0.02825" rpy="0 -1.5708 3.1415"></origin>
		<parent link="Link_Left_Shoulder_Outer_to_UpperArm"></parent>
		<child link="Link_Left_UpperArm_to_Elbow"></child>
		<axis xyz="0 0 -1"></axis>
		<limit lower="-2.9322" upper="2.9322" effort="15" velocity="1"></limit>
	</joint>
	<joint name="Joint_Left_Elbow" type="revolute">
		<origin xyz="0.025 0.02925 0.1761" rpy="0 -1.5708 -1.5708"></origin>
		<parent link="Link_Left_UpperArm_to_Elbow"></parent>
		<child link="Link_Left_Elbow_to_Forearm"></child>
		<axis xyz="0 0 1"></axis>
		<limit lower="-0.0524" upper="2.6179" effort="12" velocity="1"></limit>
	</joint>
	<joint name="Joint_Left_Forearm" type="revolute">
		<origin xyz="0.1055 -0.025 -0.02925" rpy="1.5708 0 1.5708"></origin>
		<parent link="Link_Left_Elbow_to_Forearm"></parent>
		<child link="Link_Left_Forearm_to_Wrist_Upper"></child>
		<axis xyz="0 0 1"></axis>
		<limit lower="-2.8798" upper="2.8798" effort="9" velocity="1"></limit>
	</joint>
	<joint name="Joint_Left_Wrist_Upper" type="revolute">
		<origin xyz="0.0321 0.00036292 0.045" rpy="0 -1.5708 3.1415"></origin>
		<parent link="Link_Left_Forearm_to_Wrist_Upper"></parent>
		<child link="Link_Left_Wrist_Upper_to_Wrist_Lower"></child>
		<axis xyz="0 0 -1"></axis>
		<limit lower="-1.57" upper="1.57" effort="6" velocity="1"></limit>
	</joint>
	<joint name="Joint_Left_Wrist_Lower" type="revolute">
		<origin xyz="0.0552 0.0321 -0.0321" rpy="-1.5708 0 0"></origin>
		<parent link="Link_Left_Wrist_Upper_to_Wrist_Lower"></parent>
		<child link="Link_Left_Wrist_Lower_to_Gripper"></child>
		<axis xyz="0 0 1"></axis>
		<limit lower="-1.4138" upper="1.4138" effort="3" velocity="1"></limit>
	</joint>
	<joint name="Joint_Left_Gripper" type="fixed">
		<origin xyz="0.10148 -0.011 -0.0011371" rpy="1.5708 -1.5708 0"></origin>
		<parent link="Link_Left_Wrist_Lower_to_Gripper"></parent>
		<child link="Link_Left_Gripper"></child>
		<axis xyz="0 0 1"></axis>
	</joint>
	<joint name="Joint_Right_Shoulder_Inner" type="revolute">
		<origin xyz="0 -0.1311 0.25157" rpy="1.5708 0 0"></origin>
		<parent link="Link_Waist_Yaw_to_Shoulder_Inner"></parent>
		<child link="Link_Right_Shoulder_Inner_to_Shoulder_Outer"></child>
		<axis xyz="0 0 -1"></axis>
		<limit lower="-2.6179" upper="3.141" effort="21" velocity="1"></limit>
	</joint>
	<joint name="Joint_Right_Shoulder_Outer" type="revolute">
		<origin xyz="0.02825 0 0.074" rpy="-1.5708 0 -1.5708"></origin>
		<parent link="Link_Right_Shoulder_Inner_to_Shoulder_Outer"></parent>
		<child link="Link_Right_Shoulder_Outer_to_UpperArm"></child>
		<axis xyz="0 0 1"></axis>
		<limit lower="-3.1415" upper="0.349" effort="18" velocity="1"></limit>
	</joint>
	<joint name="Joint_Right_UpperArm" type="revolute">
		<origin xyz="0.1105 -0.011 -0.02825" rpy="3.1415 -1.5708 0"></origin>
		<parent link="Link_Right_Shoulder_Outer_to_UpperArm"></parent>
		<child link="Link_Right_UpperArm_to_Elbow"></child>
		<axis xyz="0 0 -1"></axis>
		<limit lower="-2.9322" upper="2.9322" effort="15" velocity="1"></limit>
	</joint>
	<joint name="Joint_Right_Elbow" type="revolute">
		<origin xyz="0.025 0.03075 0.1761" rpy="0 -1.5708 -1.5708"></origin>
		<parent link="Link_Right_UpperArm_to_Elbow"></parent>
		<child link="Link_Right_Elbow_to_Forearm"></child>
		<axis xyz="0 0 -1"></axis>
		<limit lower="-2.6179" upper="0.0524" effort="12" velocity="1"></limit>
	</joint>
	<joint name="Joint_Right_Forearm" type="revolute">
		<origin xyz="0.1055 -0.025 -0.03075" rpy="1.5708 0 1.5708"></origin>
		<parent link="Link_Right_Elbow_to_Forearm"></parent>
		<child link="Link_Right_Forearm_to_Wrist_Upper"></child>
		<axis xyz="0 0 1"></axis>
		<limit lower="-2.8798" upper="2.8798" effort="9" velocity="1"></limit>
	</joint>
	<joint name="Joint_Right_Wrist_Upper" type="revolute">
		<origin xyz="0.0321 -0.00036285 0.045" rpy="3.1415 -1.5708 0"></origin>
		<parent link="Link_Right_Forearm_to_Wrist_Upper"></parent>
		<child link="Link_Right_Wrist_Upper_to_Wrist_Lower "></child>
		<axis xyz="0 0 -1"></axis>
		<limit lower="-1.57" upper="1.57" effort="6" velocity="1"></limit>
	</joint>
	<joint name="Joint_Right_Wrist_Lower" type="revolute">
		<origin xyz="0.0552 0.0321 -0.0321" rpy="-1.5708 0 0"></origin>
		<parent link="Link_Right_Wrist_Upper_to_Wrist_Lower "></parent>
		<child link="Link_Right_Wrist_Lower_to_Gripper"></child>
		<axis xyz="0 0 1"></axis>
		<limit lower="-1.4138" upper="1.4138" effort="3" velocity="1"></limit>
	</joint>
	<joint name="Joint_Right_Gripper" type="fixed">
		<origin xyz="0.10148 -0.011 -0.0018628" rpy="1.5708 -1.5708 0"></origin>
		<parent link="Link_Right_Wrist_Lower_to_Gripper"></parent>
		<child link="Link_Right_Gripper"></child>
		<axis xyz="0 0 1"></axis>
	</joint>
	<joint name="Joint_Left_Gripper_Left_Inner_Knuckle" type="fixed">
		<origin xyz="0.10799 -0.011 -0.019037" rpy="1.5708 -1.5708 0"></origin>
		<parent link="Link_Left_Wrist_Lower_to_Gripper"></parent>
		<child link="Link_Left_Gripper_Left_Inner_Knuckle"></child>
		<axis xyz="0 0 1"></axis>
		<limit lower="-1" upper="1" effort="2" velocity="1"></limit>
		<mimic joint="Joint_Left_Gripper" multiplier="1" offset="0"></mimic>
	</joint>
	<joint name="Joint_Left_Gripper_Left_Finger" type="fixed">
		<origin xyz="-0.0032202 -0.057059 -0.0029" rpy="0 0 0"></origin>
		<parent link="Link_Left_Gripper_Left_Inner_Knuckle"></parent>
		<child link="Joint_Left_Gripper_Left_Finger"></child>
		<axis xyz="0 0 1"></axis>
		<limit lower="-1" upper="1" effort="2" velocity="1"></limit>
		<mimic joint="Joint_Left_Gripper" multiplier="-1" offset="0"></mimic>
	</joint>
	<joint name="Joint_Left_Gripper_Right_Outer_Knuckle" type="fixed">
		<origin xyz="0.10148 -0.011 -0.062337" rpy="1.5708 -1.5708 0"></origin>
		<parent link="Link_Left_Wrist_Lower_to_Gripper"></parent>
		<child link="Link_Left_Gripper_Right_Outer_Knuckle"></child>
		<axis xyz="0 0 1"></axis>
		<limit lower="-1" upper="1" effort="2" velocity="1"></limit>
		<mimic joint="Joint_Left_Gripper" multiplier="-1" offset="0"></mimic>
	</joint>
	<joint name="Joint_Left_Gripper_Right_Inner_Knuckle" type="fixed">
		<origin xyz="0.10799 -0.011 -0.044437" rpy="1.5708 -1.5708 0"></origin>
		<parent link="Link_Left_Wrist_Lower_to_Gripper"></parent>
		<child link="Link_Left_Gripper_Right_Inner_Knuckle"></child>
		<axis xyz="0 0 1"></axis>
		<limit lower="-1" upper="1" effort="2" velocity="1"></limit>
		<mimic joint="Joint_Left_Gripper" multiplier="-1" offset="0"></mimic>
	</joint>
	<joint name="Joint_Left_Gripper_Right_Finger" type="fixed">
		<origin xyz="0.0032202 -0.057059 -0.0029" rpy="0 0 0"></origin>
		<parent link="Link_Left_Gripper_Right_Inner_Knuckle"></parent>
		<child link="Link_Left_Gripper_Right_Finger"></child>
		<axis xyz="0 0 1"></axis>
		<limit lower="-1" upper="1" effort="2" velocity="1"></limit>
		<mimic joint="Joint_Left_Gripper" multiplier="1" offset="0"></mimic>
	</joint>
	<joint name="Joint_Right_Gripper_Left_Inner_Knuckle" type="fixed">
		<origin xyz="0.10799 -0.011 -0.019763" rpy="1.5708 -1.5708 0"></origin>
		<parent link="Link_Right_Wrist_Lower_to_Gripper"></parent>
		<child link="Link_Right_Gripper_Left_Inner_Knuckle"></child>
		<axis xyz="0 0 1"></axis>
		<limit lower="-1" upper="1" effort="2" velocity="1"></limit>
		<mimic joint="Joint_Right_Gripper" multiplier="1" offset="0"></mimic>
	</joint>
	<joint name="Joint_Right_Gripper_Left_Finger" type="fixed">
		<origin xyz="-0.0032202 -0.057059 -0.0029" rpy="0 0 0"></origin>
		<parent link="Link_Right_Gripper_Left_Inner_Knuckle"></parent>
		<child link="Link_Right_Gripper_Left_Finger"></child>
		<axis xyz="0 0 1"></axis>
		<limit lower="-1" upper="1" effort="2" velocity="1"></limit>
		<mimic joint="Joint_Right_Gripper" multiplier="-1" offset="0"></mimic>
	</joint>
	<joint name="Joint_Right_Gripper_Right_Outer_Knuckle" type="fixed">
		<origin xyz="0.10148 -0.011 -0.063063" rpy="1.5708 -1.5708 0"></origin>
		<parent link="Link_Right_Wrist_Lower_to_Gripper"></parent>
		<child link="Link_Right_Gripper_Right_Outer_Knuckle"></child>
		<axis xyz="0 0 1"></axis>
		<limit lower="-1" upper="1" effort="2" velocity="1"></limit>
		<mimic joint="Joint_Right_Gripper" multiplier="-1" offset="0"></mimic>
	</joint>
	<joint name="Joint_Right_Gripper_Right_Inner_Knuckle" type="fixed">
		<origin xyz="0.10799 -0.011 -0.045163" rpy="1.5708 -1.5708 0"></origin>
		<parent link="Link_Right_Wrist_Lower_to_Gripper"></parent>
		<child link="Link_Right_Gripper_Right_Inner_Knuckle"></child>
		<axis xyz="0 0 1"></axis>
		<limit lower="-1" upper="1" effort="2" velocity="1"></limit>
		<mimic joint="Joint_Right_Gripper" multiplier="-1" offset="0"></mimic>
	</joint>
	<joint name="Joint_Right_Gripper_Right_Finger" type="fixed">
		<origin xyz="0.0032202 -0.057059 -0.0029" rpy="0 0 0"></origin>
		<parent link="Link_Right_Gripper_Right_Inner_Knuckle"></parent>
		<child link="Link_Right_Gripper_Right_Finger"></child>
		<axis xyz="0 0 1"></axis>
		<limit lower="-1" upper="1" effort="2" velocity="1"></limit>
		<mimic joint="Joint_Right_Gripper" multiplier="1" offset="0"></mimic>
	</joint>
	<joint name="Joint_Knee_Black_Cover" type="fixed">
		<origin xyz="0.3705 0 0" rpy="0 0 0"></origin>
		<parent link="Link_Knee_to_Waist_Pitch"></parent>
		<child link="Link_Knee_Black_Cover"></child>
		<axis xyz="0 0 0"></axis>
	</joint>
	<joint name="Joint_Mask" type="fixed">
		<origin xyz="-0.0428574426734296 1.96731518201515E-05 0.391365544112642" rpy="2.96705972838954 0 -1.5707963267949"></origin>
		<parent link="Link_Waist_Yaw_to_Shoulder_Inner"></parent>
		<child link="Link_Mask"></child>
		<axis xyz="0 0 0"></axis>
	</joint>
	<joint name="Joint_Chest_Front_Cover" type="fixed">
		<origin xyz="0.0482644434006438 -0.102712228594056 -0.150180188902497" rpy="3.14159265358979 0 1.5707963267949"></origin>
		<parent link="Link_Waist_Yaw_to_Shoulder_Inner"></parent>
		<child link="Link_Chest_Front_Cover"></child>
		<axis xyz="0 0 0"></axis>
	</joint>
	<joint name="Joint_Chest_Back_Cover" type="fixed">
		<origin xyz="0.0482644434006438 -0.102712228594056 -0.150180188902497" rpy="3.14159265358979 0 1.5707963267949"></origin>
		<parent link="Link_Waist_Yaw_to_Shoulder_Inner"></parent>
		<child link="Link_Chest_Back_Cover"></child>
		<axis xyz="0 0 0"></axis>
	</joint>
	<joint name="Joint_Ground_Vehicle_Visual_Cover" type="fixed">
		<origin xyz="0 0 0" rpy="0 0 0"></origin>
		<parent link="Link_Ground_Vehicle_Z"></parent>
		<child link="Link_Ground_Vehicle_Visual_Cover"></child>
		<axis xyz="0 0 0"></axis>
	</joint>
</robot>
